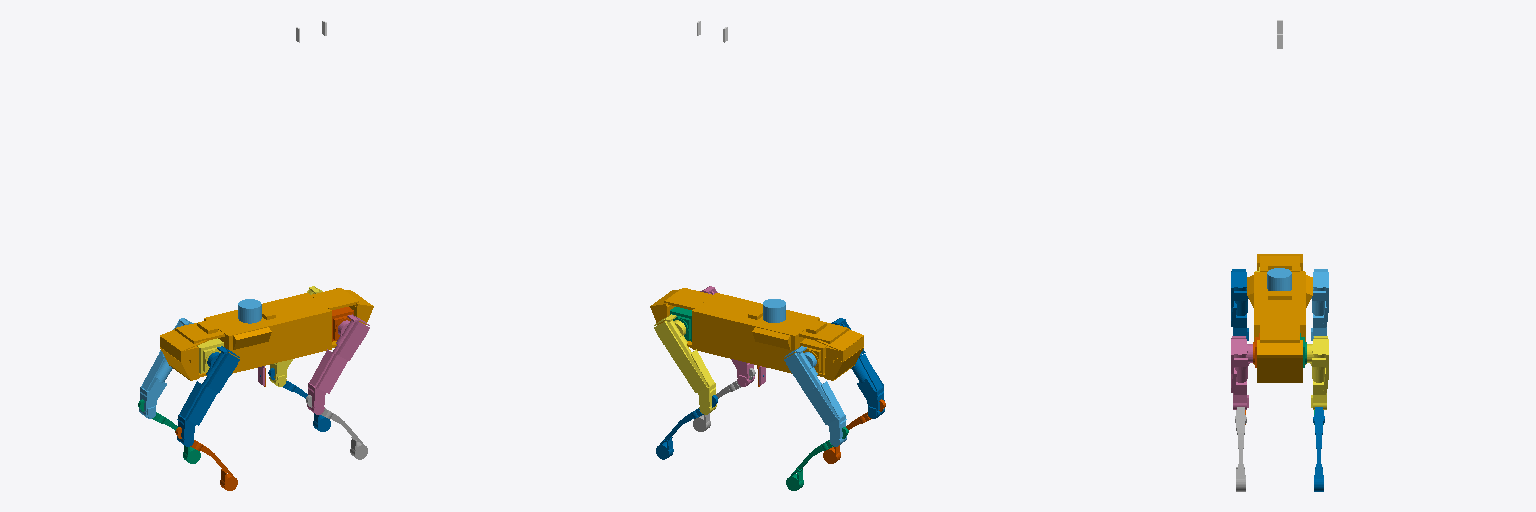
--- Facts derived from the render (not from the file) ---
Views: 3 orthographic renders of the robot side by side, from view 1: azimuth 30°, elevation 25°; view 2: azimuth 150°, elevation 25°; view 3: azimuth 270°, elevation 25°.
Model Spot with 93 links and 92 joints (21 revolute, 7 continuous, 2 prismatic, 62 fixed), rooted at base_link, posed all joints at 0.
Links seen in each view (by area): view 1: base_link, rear right upperarm, front right upperarm, rear left upperarm, front right forearm, rear right forearm, Velodyne_Puck; view 2: base_link, rear left upperarm, front left upperarm, rear right upperarm, front left forearm, rear left forearm; view 3: base_link, front right upperarm, front left upperarm, rear right upperarm, rear left upperarm, front right forearm, front left forearm, Velodyne_Puck.
Boxes of the visible links, left/top/right/bottom form: base_link: left=160, top=288, right=373, bottom=380; rear right upperarm: left=177, top=346, right=239, bottom=446; front right upperarm: left=307, top=314, right=369, bottom=414; rear left upperarm: left=139, top=318, right=193, bottom=418; front right forearm: left=306, top=395, right=367, bottom=459; rear right forearm: left=175, top=427, right=237, bottom=490; Velodyne_Puck: left=238, top=299, right=261, bottom=323; base_link: left=650, top=288, right=863, bottom=380; rear left upperarm: left=784, top=346, right=846, bottom=446; front left upperarm: left=654, top=314, right=716, bottom=414; rear right upperarm: left=831, top=318, right=884, bottom=418; front left forearm: left=656, top=395, right=717, bottom=459; rear left forearm: left=786, top=427, right=848, bottom=490; base_link: left=1247, top=254, right=1312, bottom=382; front right upperarm: left=1231, top=336, right=1252, bottom=409; front left upperarm: left=1307, top=336, right=1328, bottom=409; rear right upperarm: left=1231, top=269, right=1248, bottom=340; rear left upperarm: left=1311, top=269, right=1328, bottom=340; front right forearm: left=1235, top=407, right=1246, bottom=491; front left forearm: left=1313, top=407, right=1324, bottom=491; Velodyne_Puck: left=1267, top=268, right=1291, bottom=290.
Size in the robot's own frame: 1.06 by 0.42 by 2.1 metres.
0 mesh visuals loaded from 12 distinct referenced files (none loaded); not drawn: 9 (reference not matched to a file when rendering), 7 (file found but could not be loaded).

URDF robot description (Spot):
<?xml version="1.0"?>
<robot name="Spot" xmlns:xacro="http://ros.org/wiki/xacro">
  <link name="base_link">
    <visual>
      <origin xyz="0.462094 0 -0.000232" rpy="1.127615 -0.00001 -1.570793"/>
      <geometry>
        <box size="0.192453 0.177358 0.043396"/>
      </geometry>
    </visual>
    <collision>
      <origin xyz="0.462094 0 -0.000232" rpy="1.127615 -0.00001 -1.570793"/>
      <geometry>
        <box size="0.192453 0.177358 0.043396"/>
      </geometry>
    </collision>
    <visual>
      <origin xyz="0.477932 0 0.084013" rpy="1.217205 -0.000011 -1.570792"/>
      <geometry>
        <box size="0.192453 0.018113 0.08717"/>
      </geometry>
    </visual>
    <collision>
      <origin xyz="0.477932 0 0.084013" rpy="1.217205 -0.000011 -1.570792"/>
      <geometry>
        <box size="0.192453 0.018113 0.08717"/>
      </geometry>
    </collision>
    <visual>
      <origin xyz="0.451833 0 0.041304" rpy="0 0 0"/>
      <geometry>
        <box size="0.037736 0.192453 0.102642"/>
      </geometry>
    </visual>
    <collision>
      <origin xyz="0.451833 0 0.041304" rpy="0 0 0"/>
      <geometry>
        <box size="0.037736 0.192453 0.102642"/>
      </geometry>
    </collision>
    <visual>
      <origin xyz="0.031113 0 0.018833" rpy="0 0 0"/>
      <geometry>
        <box size="0.535849 0.222642 0.189434"/>
      </geometry>
    </visual>
    <collision>
      <origin xyz="0.031113 0 0.018833" rpy="0 0 0"/>
      <geometry>
        <box size="0.535849 0.222642 0.189434"/>
      </geometry>
    </collision>
    <visual>
      <origin xyz="0.376019 0 0.107135" rpy="0 0 0"/>
      <geometry>
        <box size="0.158491 0.166038 0.013208"/>
      </geometry>
    </visual>
    <collision>
      <origin xyz="0.376019 0 0.107135" rpy="0 0 0"/>
      <geometry>
        <box size="0.158491 0.166038 0.013208"/>
      </geometry>
    </collision>
    <visual>
      <origin xyz="0.363578 0 -0.079657" rpy="1.537614 -0.00001 -1.570793"/>
      <geometry>
        <box size="0.166038 0.013208 0.124528"/>
      </geometry>
    </visual>
    <collision>
      <origin xyz="0.363578 0 -0.079657" rpy="1.537614 -0.00001 -1.570793"/>
      <geometry>
        <box size="0.166038 0.013208 0.124528"/>
      </geometry>
    </collision>
    <visual>
      <origin xyz="-0.319453 0 0.107135" rpy="0 0 0"/>
      <geometry>
        <box size="0.158491 0.166038 0.013208"/>
      </geometry>
    </visual>
    <collision>
      <origin xyz="-0.319453 0 0.107135" rpy="0 0 0"/>
      <geometry>
        <box size="0.158491 0.166038 0.013208"/>
      </geometry>
    </collision>
    <visual>
      <origin xyz="-0.313025 0 -0.064563" rpy="0 0 0"/>
      <geometry>
        <box size="0.14717 0.166038 0.013208"/>
      </geometry>
    </visual>
    <collision>
      <origin xyz="-0.313025 0 -0.064563" rpy="0 0 0"/>
      <geometry>
        <box size="0.14717 0.166038 0.013208"/>
      </geometry>
    </collision>
    <visual>
      <origin xyz="-0.120195 0.111629 0.074886" rpy="1.5708 -0.423195 -1.570794"/>
      <geometry>
        <box size="0.030189 0.064528 0.182264"/>
      </geometry>
    </visual>
    <collision>
      <origin xyz="-0.120195 0.111629 0.074886" rpy="1.5708 -0.423195 -1.570794"/>
      <geometry>
        <box size="0.030189 0.064528 0.182264"/>
      </geometry>
    </collision>
    <visual>
      <origin xyz="-0.120195 -0.111629 0.074886" rpy="1.5708 0.423174 -1.570793"/>
      <geometry>
        <box size="0.030189 0.064528 0.182264"/>
      </geometry>
    </visual>
    <collision>
      <origin xyz="-0.120195 -0.111629 0.074886" rpy="1.5708 0.423174 -1.570793"/>
      <geometry>
        <box size="0.030189 0.064528 0.182264"/>
      </geometry>
    </collision>
    <visual>
      <origin xyz="-0.427377 0 0.059588" rpy="0 0 0"/>
      <geometry>
        <box size="0.089057 0.192453 0.05283"/>
      </geometry>
    </visual>
    <collision>
      <origin xyz="-0.427377 0 0.059588" rpy="0 0 0"/>
      <geometry>
        <box size="0.089057 0.192453 0.05283"/>
      </geometry>
    </collision>
    <visual>
      <origin xyz="-0.404 0 0.096611" rpy="1.730798 -0.000011 -1.570794"/>
      <geometry>
        <box size="0.193585 0.003774 0.135849"/>
      </geometry>
    </visual>
    <collision>
      <origin xyz="-0.404 0 0.096611" rpy="1.730798 -0.000011 -1.570794"/>
      <geometry>
        <box size="0.193585 0.003774 0.135849"/>
      </geometry>
    </collision>
    <visual>
      <origin xyz="-0.400585 0 -0.018903" rpy="0 0 0"/>
      <geometry>
        <box size="0.04566 0.191698 0.103396"/>
      </geometry>
    </visual>
    <collision>
      <origin xyz="-0.400585 0 -0.018903" rpy="0 0 0"/>
      <geometry>
        <box size="0.04566 0.191698 0.103396"/>
      </geometry>
    </collision>
    <visual>
      <origin xyz="-0.431528 0 -0.008337" rpy="2.0308 -0.00001 -1.570793"/>
      <geometry>
        <box size="0.193585 0.109434 0.037736"/>
      </geometry>
    </visual>
    <collision>
      <origin xyz="-0.431528 0 -0.008337" rpy="2.0308 -0.00001 -1.570793"/>
      <geometry>
        <box size="0.193585 0.109434 0.037736"/>
      </geometry>
    </collision>
    <visual>
      <origin xyz="-0.28 0 0.121" rpy="0 0 0"/>
      <geometry>
        <box size="0.05 0.1 0.02"/>
      </geometry>
    </visual>
    <collision>
      <origin xyz="-0.28 0 0.121" rpy="0 0 0"/>
      <geometry>
        <box size="0.05 0.1 0.02"/>
      </geometry>
    </collision>
    <visual>
      <origin xyz="0.02 0 0.121" rpy="0 0 0"/>
      <geometry>
        <box size="0.05 0.1 0.02"/>
      </geometry>
    </visual>
    <collision>
      <origin xyz="0.02 0 0.121" rpy="0 0 0"/>
      <geometry>
        <box size="0.05 0.1 0.02"/>
      </geometry>
    </collision>
  </link>
  <link name="Velodyne_Puck">
    <visual>
      <origin xyz="0 -0.00165 0" rpy="0 0 0"/>
      <geometry>
        <cylinder radius="0.052" length="0.0727"/>
      </geometry>
    </visual>
    <collision>
      <origin xyz="0 -0.00165 0" rpy="0 0 0"/>
      <geometry>
        <cylinder radius="0.052" length="0.0727"/>
      </geometry>
    </collision>
  </link>
  <joint name="base_link_Velodyne_Puck_joint" type="fixed">
    <parent link="base_link"/>
    <child link="Velodyne_Puck"/>
    <origin xyz="-0.063 0 0.1518" rpy="-0.000008 -0.000008 0.000001"/>
  </joint>
  <link name="solid">
  </link>
  <joint name="base_link_solid_joint" type="fixed">
    <parent link="base_link"/>
    <child link="solid"/>
    <origin xyz="0.496831 0.000001 0.104801" rpy="1.2208 -0.00001 -1.570793"/>
  </joint>
  <link name="kinect range">
  </link>
  <joint name="solid_kinect range_joint" type="fixed">
    <parent link="solid"/>
    <child link="kinect range"/>
    <origin xyz="0 0 -0.0127" rpy="-0.785397 1.570792 0.785397"/>
  </joint>
  <link name="kinect color">
  </link>
  <joint name="solid_kinect color_joint" type="fixed">
    <parent link="solid"/>
    <child link="kinect color"/>
    <origin xyz="0 0 -0.0127" rpy="-2.356193 1.570792 -0.7854"/>
  </joint>
  <link name="gen3_base_link">
    <inertial>
      <origin xyz="-0.000648 -0.000166 0.084487" rpy="0 0 0" />
      <mass value="1.697" />
      <inertia ixx="0.004622" ixy="9E-06" ixz="6E-05" iyy="0.004495" iyz="9E-06" izz="0.002079" />
    </inertial>
    <visual>
      <origin xyz="0 0 0" rpy="0 0 0" />
      <geometry>
        <mesh filename="package://kortex_description/arms/gen3/6dof/meshes/base_link.STL" />
      </geometry>
      <material name="">
        <color rgba="0.75294 0.75294 0.75294 1" />
      </material>
    </visual>
    <collision>
      <origin xyz="0 0 0" rpy="0 0 0" />
      <geometry>
        <mesh filename="package://kortex_description/arms/gen3/6dof/meshes/base_link.STL" />
      </geometry>
    </collision>
  </link>
  <link name="shoulder_link">
    <inertial>
      <origin xyz="-2.3E-05 -0.010364 -0.07336" rpy="0 0 0" />
      <mass value="1.377" />
      <inertia ixx="0.00457" ixy="1E-06" ixz="2E-06" iyy="0.004831" iyz="0.000448" izz="0.001409" />
    </inertial>
    <visual>
      <origin xyz="0 0 0" rpy="0 0 0" />
      <geometry>
        <mesh filename="package://kortex_description/arms/gen3/6dof/meshes/shoulder_link.STL" />
      </geometry>
      <material name="">
        <color rgba="0.75294 0.75294 0.75294 1" />
      </material>
    </visual>
    <collision>
      <origin xyz="0 0 0" rpy="0 0 0" />
      <geometry>
        <mesh filename="package://kortex_description/arms/gen3/6dof/meshes/shoulder_link.STL" />
      </geometry>
    </collision>
  </link>
  <joint name="joint_1" type="continuous">
    <origin xyz="0 0 0.15643" rpy="-3.1416 0.0 0.0" />
    <parent link="gen3_base_link" />
    <child link="shoulder_link" />
    <axis xyz="0 0 1" />
    <limit effort="39" velocity="1.3963" />
  </joint>
  <link name="bicep_link">
    <inertial>
      <origin xyz="3.5E-05 -0.208207 -0.01889" rpy="0 0 0" />
      <mass value="1.262" />
      <inertia ixx="0.046752" ixy="-9E-06" ixz="0" iyy="0.00085" iyz="-9.8E-05" izz="0.047188" />
    </inertial>
    <visual>
      <origin xyz="0 0 0" rpy="0 0 0" />
      <geometry>
        <mesh filename="package://kortex_description/arms/gen3/6dof/meshes/bicep_link.STL" />
      </geometry>
      <material name="">
        <color rgba="0.75294 0.75294 0.75294 1" />
      </material>
    </visual>
    <collision>
      <origin xyz="0 0 0" rpy="0 0 0" />
      <geometry>
        <mesh filename="package://kortex_description/arms/gen3/6dof/meshes/bicep_link.STL" />
      </geometry>
    </collision>
  </link>
  <joint name="joint_2" type="revolute">
    <origin xyz="0 0.005375 -0.12838" rpy="1.5708 0.0 0.0" />
    <parent link="shoulder_link" />
    <child link="bicep_link" />
    <axis xyz="0 0 1" />
    <limit lower="-2.24" upper="2.24" effort="39" velocity="1.3963" />
  </joint>
  <link name="forearm_link">
    <inertial>
      <origin xyz="1.8E-05 0.076168 -0.01397" rpy="0 0 0" />
      <mass value="0.93" />
      <inertia ixx="0.008292" ixy="-1E-06" ixz="0" iyy="0.000628" iyz="0.000432" izz="0.008464" />
    </inertial>
    <visual>
      <origin xyz="0 0 0" rpy="0 0 0" />
      <geometry>
        <mesh filename="package://kortex_description/arms/gen3/6dof/meshes/forearm_link.STL" />
      </geometry>
      <material name="">
        <color rgba="0.75294 0.75294 0.75294 1" />
      </material>
    </visual>
    <collision>
      <origin xyz="0 0 0" rpy="0 0 0" />
      <geometry>
        <mesh filename="package://kortex_description/arms/gen3/6dof/meshes/forearm_link.STL" />
      </geometry>
    </collision>
  </link>
  <joint name="joint_3" type="revolute">
    <origin xyz="0 -0.41 0" rpy="3.1416 0 0" />
    <parent link="bicep_link" />
    <child link="forearm_link" />
    <axis xyz="0 0 1" />
    <limit lower="-2.57" upper="2.57" effort="39" velocity="1.3963" />
  </joint>
  <link name="spherical_wrist_1_link">
    <inertial>
      <origin xyz="-1E-06 0.008486 -0.062937" rpy="0 0 0" />
      <mass value="0.6781" />
      <inertia ixx="0.001645" ixy="0" ixz="0" iyy="0.001666" iyz="-0.000234" izz="0.000389" />
    </inertial>
    <visual>
      <origin xyz="0 0 0" rpy="0 0 0" />
      <geometry>
        <mesh filename="package://kortex_description/arms/gen3/6dof/meshes/spherical_wrist_1_link.STL" />
      </geometry>
      <material name="">
        <color rgba="0.75294 0.75294 0.75294 1" />
      </material>
    </visual>
    <collision>
      <origin xyz="0 0 0" rpy="0 0 0" />
      <geometry>
        <mesh filename="package://kortex_description/arms/gen3/6dof/meshes/spherical_wrist_1_link.STL" />
      </geometry>
    </collision>
  </link>
  <joint name="joint_4" type="continuous">
    <origin xyz="0 0.20843 -0.006375" rpy="1.5708 0.0 0.0" />
    <parent link="forearm_link" />
    <child link="spherical_wrist_1_link" />
    <axis xyz="0 0 1" />
    <limit effort="9" velocity="1.2218" />
  </joint>
  <link name="spherical_wrist_2_link">
    <inertial>
      <origin xyz="-1E-06 0.046429 -0.008704" rpy="0 0 0" />
      <mass value="0.678" />
      <inertia ixx="0.001685" ixy="0" ixz="0" iyy="0.0004" iyz="0.000255" izz="0.001696" />
    </inertial>
    <visual>
      <origin xyz="0 0 0" rpy="0 0 0" />
      <geometry>
        <mesh filename="package://kortex_description/arms/gen3/6dof/meshes/spherical_wrist_2_link.STL" />
      </geometry>
      <material name="">
        <color rgba="0.75294 0.75294 0.75294 1" />
      </material>
    </visual>
    <collision>
      <origin xyz="0 0 0" rpy="0 0 0" />
      <geometry>
        <mesh filename="package://kortex_description/arms/gen3/6dof/meshes/spherical_wrist_2_link.STL" />
      </geometry>
    </collision>
  </link>
  <joint name="joint_5" type="revolute">
    <origin xyz="0 -0.00017505 -0.10593" rpy="-1.5708 0.0 0.0" />
    <parent link="spherical_wrist_1_link" />
    <child link="spherical_wrist_2_link" />
    <axis xyz="0 0 1" />
    <limit lower="-2.09" upper="2.09" effort="9" velocity="1.2218" />
  </joint>
  <link name="bracelet_link">
    <inertial>
      <origin xyz="0.000281 0.011402 -0.029798" rpy="0 0 0" />
      <mass value="0.5" />
      <inertia ixx="0.000587" ixy="3E-06" ixz="3E-06" iyy="0.000369" iyz="-0.000118" izz="0.000609" />
    </inertial>
    <visual>
      <origin xyz="0 0 0" rpy="0 0 0" />
      <geometry>
        <mesh filename="package://kortex_description/arms/gen3/6dof/meshes/bracelet_with_vision_link.STL" />
      </geometry>
      <material name="">
        <color rgba="0.75294 0.75294 0.75294 1" />
      </material>
    </visual>
    <collision>
      <origin xyz="0 0 0" rpy="0 0 0" />
      <geometry>
        <mesh filename="package://kortex_description/arms/gen3/6dof/meshes/bracelet_with_vision_link.STL" />
      </geometry>
    </collision>
  </link>
  <joint name="joint_6" type="continuous">
    <origin xyz="0 0.10593 -0.00017505" rpy="1.5708 0.0 0.0" />
    <parent link="spherical_wrist_2_link" />
    <child link="bracelet_link" />
    <axis xyz="0 0 1" />
    <limit effort="9" velocity="1.2218" />
  </joint>
  <link name="end_effector_link">
    <inertial>
      <origin xyz="0 0 0" rpy="0 0 0" />
      <mass value="0" />
      <inertia ixx="0" ixy="0" ixz="0" iyy="0" iyz="0" izz="0" />
    </inertial>
  </link>
  <joint name="end_effector" type="fixed">
    <origin xyz="0 0 -0.061525" rpy="3.1416 0 -3.1416" />
    <parent link="bracelet_link" />
    <child link="end_effector_link" />
    <axis xyz="0 0 0" />
  </joint>
  <link name="camera_link" />
  <joint name="camera_module" type="fixed">
    <origin xyz="0 0.05639 -0.00305" rpy="3.14159265358979 3.14159265358979 0" />
    <parent link="end_effector_link" />
    <child link="camera_link" />
  </joint>
  <link name="camera_depth_frame" />
  <joint name="depth_module" type="fixed">
    <origin xyz="0.0275 0.066 -0.00305" rpy="3.14159265358979 3.14159265358979 0" />
    <parent link="end_effector_link" />
    <child link="camera_depth_frame" />
  </joint>
  <link name="camera_color_frame" />
  <joint name="color_module" type="fixed">
    <origin xyz="0 0.05639 -0.00305" rpy="3.14159265358979 3.14159265358979 0" />
    <parent link="end_effector_link" />
    <child link="camera_color_frame" />
  </joint>

  <!-- Connecting Joint: Attach Gripper to Arm -->
  <joint name="arm_to_gripper_joint" type="fixed">
    <origin xyz="0 0 -0.01" rpy="0 0 1.5708" />
    <parent link="end_effector_link" />
    <child link="robotiq_2f_base_link" />
  </joint>

  <!-- Robotiq 2F-140 Gripper -->
  <link name="robotiq_2f_base_link">
    <inertial>
      <origin rpy="0 0 0" xyz="8.625E-08 -4.6583E-06 0.03145"/>
      <mass value="0.22652"/>
      <inertia ixx="0.00020005" ixy="-4.2442E-10" ixz="-2.9069E-10" iyy="0.00017832" iyz="-3.4402E-08" izz="0.00013478"/>
    </inertial>
    <visual>
      <origin rpy="0 0 0" xyz="0 0 0"/>
      <geometry>
        <mesh filename="package://robotiq_description/meshes/visual/2f_140/robotiq_2f_140_base_link.stl"/>
      </geometry>
      <material name="">
        <color rgba="0.1 0.1 0.1 1"/>
      </material>
    </visual>
    <collision>
      <origin rpy="0 0 0" xyz="0 0 0"/>
      <geometry>
        <mesh filename="package://robotiq_description/meshes/collision/2f_140/robotiq_2f_140_base_link.stl"/>
      </geometry>
    </collision>
  </link>
  <link name="left_outer_knuckle">
    <inertial>
      <origin rpy="0 0 0" xyz="-0.000200000000003065 0.0199435877845359 0.0292245259211331"/>
      <mass value="0.00853198276973456"/>
      <inertia ixx="2.89328108496468E-06" ixy="-1.57935047237397E-19" ixz="-1.93980378593255E-19" iyy="1.86719750325683E-06" iyz="-1.21858577871576E-06" izz="1.21905238907251E-06"/>
    </inertial>
    <visual>
      <origin rpy="0 0 0" xyz="0 0 0"/>
      <geometry>
        <mesh filename="package://robotiq_description/meshes/visual/2f_140/robotiq_2f_140_outer_knuckle.stl"/>
      </geometry>
      <material name="">
        <color rgba="0.792156862745098 0.819607843137255 0.933333333333333 1"/>
      </material>
    </visual>
    <collision>
      <origin rpy="0 0 0" xyz="0 0 0"/>
      <geometry>
        <mesh filename="package://robotiq_description/meshes/collision/2f_140/robotiq_2f_140_outer_knuckle.stl"/>
      </geometry>
    </collision>
  </link>
  <link name="left_outer_finger">
    <inertial>
      <origin rpy="0 0 0" xyz="0.00030115855001899 0.0373907951953854 -0.0208027427000385"/>
      <mass value="0.022614240507152"/>
      <inertia ixx="1.52518312458174E-05" ixy="9.76583423954399E-10" ixz="-5.43838577022588E-10" iyy="6.17694243867776E-06" iyz="6.78636130740228E-06" izz="1.16494917907219E-05"/>
    </inertial>
    <visual>
      <origin rpy="0 0 0" xyz="0 0 0"/>
      <geometry>
        <mesh filename="package://robotiq_description/meshes/visual/2f_140/robotiq_2f_140_outer_finger.stl"/>
      </geometry>
      <material name="">
        <color rgba="0.1 0.1 0.1 1"/>
      </material>
    </visual>
    <collision>
      <origin rpy="0 0 0" xyz="0 0 0"/>
      <geometry>
        <mesh filename="package://robotiq_description/meshes/collision/2f_140/robotiq_2f_140_outer_finger.stl"/>
      </geometry>
    </collision>
  </link>
  <link name="left_inner_finger">
    <inertial>
      <origin rpy="0 0 0" xyz="0.000299999999999317 0.0160078233491243 -0.0136945669206257"/>
      <mass value="0.0104003125914103"/>
      <inertia ixx="2.71909453810972E-06" ixy="1.35402465472579E-21" ixz="-7.1817349065269E-22" iyy="7.69100314106116E-07" iyz="6.74715432769696E-07" izz="2.30315190420171E-06"/>
    </inertial>
    <visual>
      <origin rpy="0 0 0" xyz="0 0 0"/>
      <geometry>
        <mesh filename="package://robotiq_description/meshes/visual/2f_140/robotiq_2f_140_inner_finger.stl"/>
      </geometry>
      <material name="">
        <color rgba="0.1 0.1 0.1 1"/>
      </material>
    </visual>
    <collision>
      <origin rpy="0 0 0" xyz="0 0 0"/>
      <geometry>
        <mesh filename="package://robotiq_description/meshes/collision/2f_140/robotiq_2f_140_inner_finger.stl"/>
      </geometry>
    </collision>
  </link>
  <link name="left_inner_finger_pad">
    <visual>
      <origin rpy="0 0 0" xyz="0 0 0"/>
      <geometry>
        <box size="0.027 0.065 0.0075"/>
      </geometry>
      <material name="">
        <color rgba="0.9 0.9 0.9 1"/>
      </material>
    </visual>
    <collision>
      <origin rpy="0 0 0" xyz="0 0 0"/>
      <geometry>
        <box size="0.03 0.07 0.0075"/>
      </geometry>
      <material name="">
        <color rgba="0.9 0.0 0.0 1"/>
      </material>
    </collision>
  </link>
  <link name="left_inner_knuckle">
    <inertial>
      <origin rpy="0 0 0" xyz="0.000123011831763771 0.0507850843201817 0.00103968640075166"/>
      <mass value="0.0271177346495152"/>
      <inertia ixx="2.61910379223783E-05" ixy="-2.43616858946494E-07" ixz="-6.37789906117123E-09" iyy="2.8270243746167E-06" iyz="-5.37200748039765E-07" izz="2.83695868220296E-05"/>
    </inertial>
    <visual>
      <origin rpy="0 0 0" xyz="0 0 0"/>
      <geometry>
        <mesh filename="package://robotiq_description/meshes/visual/2f_140/robotiq_2f_140_inner_knuckle.stl"/>
      </geometry>
      <material name="">
        <color rgba="0.1 0.1 0.1 1"/>
      </material>
    </visual>
    <collision>
      <origin rpy="0 0 0" xyz="0 0 0"/>
      <geometry>
        <mesh filename="package://robotiq_description/meshes/collision/2f_140/robotiq_2f_140_inner_knuckle.stl"/>
      </geometry>
    </collision>
  </link>
  <link name="right_outer_knuckle">
    <inertial>
      <origin rpy="0 0 0" xyz="-0.000200000000003065 0.0199435877845359 0.0292245259211331"/>
      <mass value="0.00853198276973456"/>
      <inertia ixx="2.89328108496468E-06" ixy="-1.57935047237397E-19" ixz="-1.93980378593255E-19" iyy="1.86719750325683E-06" iyz="-1.21858577871576E-06" izz="1.21905238907251E-06"/>
    </inertial>
    <visual>
      <origin rpy="0 0 0" xyz="0 0 0"/>
      <geometry>
        <mesh filename="package://robotiq_description/meshes/visual/2f_140/robotiq_2f_140_outer_knuckle.stl"/>
      </geometry>
      <material name="">
        <color rgba="0.792156862745098 0.819607843137255 0.933333333333333 1"/>
      </material>
    </visual>
    <collision>
      <origin rpy="0 0 0" xyz="0 0 0"/>
      <geometry>
        <mesh filename="package://robotiq_description/meshes/collision/2f_140/robotiq_2f_140_outer_knuckle.stl"/>
      </geometry>
    </collision>
  </link>
  <link name="right_outer_finger">
    <inertial>
      <origin rpy="0 0 0" xyz="0.00030115855001899 0.0373907951953854 -0.0208027427000385"/>
      <mass value="0.022614240507152"/>
      <inertia ixx="1.52518312458174E-05" ixy="9.76583423954399E-10" ixz="-5.43838577022588E-10" iyy="6.17694243867776E-06" iyz="6.78636130740228E-06" izz="1.16494917907219E-05"/>
    </inertial>
    <visual>
      <origin rpy="0 0 0" xyz="0 0 0"/>
      <geometry>
        <mesh filename="package://robotiq_description/meshes/visual/2f_140/robotiq_2f_140_outer_finger.stl"/>
      </geometry>
      <material name="">
        <color rgba="0.1 0.1 0.1 1"/>
      </material>
    </visual>
    <collision>
      <origin rpy="0 0 0" xyz="0 0 0"/>
      <geometry>
        <mesh filename="package://robotiq_description/meshes/collision/2f_140/robotiq_2f_140_outer_finger.stl"/>
      </geometry>
    </collision>
  </link>
  <link name="right_inner_finger">
    <inertial>
      <origin rpy="0 0 0" xyz="0.000299999999999317 0.0160078233491243 -0.0136945669206257"/>
      <mass value="0.0104003125914103"/>
      <inertia ixx="2.71909453810972E-06" ixy="1.35402465472579E-21" ixz="-7.1817349065269E-22" iyy="7.69100314106116E-07" iyz="6.74715432769696E-07" izz="2.30315190420171E-06"/>
    </inertial>
    <visual>
      <origin rpy="0 0 0" xyz="0 0 0"/>
      <geometry>
        <mesh filename="package://robotiq_description/meshes/visual/2f_140/robotiq_2f_140_inner_finger.stl"/>
      </geometry>
      <material name="">
        <color rgba="0.1 0.1 0.1 1"/>
      </material>
    </visual>
    <collision>
      <origin rpy="0 0 0" xyz="0 0 0"/>
      <geometry>
        <mesh filename="package://robotiq_description/meshes/collision/2f_140/robotiq_2f_140_inner_finger.stl"/>
      </geometry>
    </collision>
  </link>
  <link name="right_inner_finger_pad">
    <visual>
      <origin rpy="0 0 0" xyz="0 0 0"/>
      <geometry>
        <box size="0.027 0.065 0.0075"/>
      </geometry>
      <material name="">
        <color rgba="0.9 0.9 0.9 1"/>
      </material>
    </visual>
    <collision>
      <origin rpy="0 0 0" xyz="0 0 0"/>
      <geometry>
        <box size="0.03 0.07 0.0075"/>
      </geometry>
      <material name="">
        <color rgba="0.9 0.0 0.0 1"/>
      </material>
    </collision>
  </link>
  <link name="right_inner_knuckle">
    <inertial>
      <origin rpy="0 0 0" xyz="0.000123011831763771 0.0507850843201817 0.00103968640075166"/>
      <mass value="0.0271177346495152"/>
      <inertia ixx="2.61910379223783E-05" ixy="-2.43616858946494E-07" ixz="-6.37789906117123E-09" iyy="2.8270243746167E-06" iyz="-5.37200748039765E-07" izz="2.83695868220296E-05"/>
    </inertial>
    <visual>
      <origin rpy="0 0 0" xyz="0 0 0"/>
      <geometry>
        <mesh filename="package://robotiq_description/meshes/visual/2f_140/robotiq_2f_140_inner_knuckle.stl"/>
      </geometry>
      <material name="">
        <color rgba="0.1 0.1 0.1 1"/>
      </material>
    </visual>
    <collision>
      <origin rpy="0 0 0" xyz="0 0 0"/>
      <geometry>
        <mesh filename="package://robotiq_description/meshes/collision/2f_140/robotiq_2f_140_inner_knuckle.stl"/>
      </geometry>
    </collision>
  </link>
  <joint name="finger_joint" type="revolute">
    <origin rpy="2.2957963267948966 0 0" xyz="0 -0.030601 0.054905"/>
    <parent link="robotiq_2f_base_link"/>
    <child link="left_outer_knuckle"/>
    <axis xyz="-1 0 0"/>
    <limit effort="1000" lower="0" upper="0.7" velocity="2.0"/>
  </joint>
  <joint name="left_outer_finger_joint" type="fixed">
    <origin rpy="0 0 0" xyz="0 0.01821998610742 0.0260018192872234"/>
    <parent link="left_outer_knuckle"/>
    <child link="left_outer_finger"/>
    <axis xyz="1 0 0"/>
  </joint>
  <joint name="left_inner_knuckle_joint" type="revolute">
    <origin rpy="2.2957963267948966 0 0.0" xyz="0 -0.0127 0.06142"/>
    <parent link="robotiq_2f_base_link"/>
    <child link="left_inner_knuckle"/>
    <axis xyz="1 0 0"/>
    <limit effort="1000" lower="-0.8757" upper="0.8757" velocity="2.0"/>
    <mimic joint="finger_joint" multiplier="-1" offset="0"/>
  </joint>
  <joint name="left_inner_finger_joint" type="revolute">
    <origin rpy="-0.725 0 0" xyz="0 0.0817554015893473 -0.0282203446692936"/>
    <parent link="left_outer_finger"/>
    <child link="left_inner_finger"/>
    <axis xyz="1 0 0"/>
    <limit effort="1000" lower="-0.8757" upper="0.8757" velocity="2.0"/>
    <mimic joint="finger_joint" multiplier="1" offset="0"/>
  </joint>
  <joint name="left_inner_finger_pad_joint" type="fixed">
    <origin rpy="0 0 0" xyz="0 0.0457554015893473 -0.0272203446692936"/>
    <parent link="left_inner_finger"/>
    <child link="left_inner_finger_pad"/>
    <axis xyz="0 0 1"/>
  </joint>
  <joint name="right_outer_knuckle_joint" type="revolute">
    <origin rpy="2.2957963267948966 0 3.141592653589793" xyz="0 0.030601 0.054905"/>
    <parent link="robotiq_2f_base_link"/>
    <child link="right_outer_knuckle"/>
    <axis xyz="1 0 0"/>
    <limit effort="1000" lower="-0.725" upper="0.725" velocity="2.0"/>
    <mimic joint="finger_joint" multiplier="-1" offset="0"/>
  </joint>
  <joint name="right_outer_finger_joint" type="fixed">
    <origin rpy="0 0 0" xyz="0 0.01821998610742 0.0260018192872234"/>
    <parent link="right_outer_knuckle"/>
    <child link="right_outer_finger"/>
    <axis xyz="1 0 0"/>
  </joint>
  <joint name="right_inner_knuckle_joint" type="revolute">
    <origin rpy="2.2957963267948966 0 -3.141592653589793" xyz="0 0.0127 0.06142"/>
    <parent link="robotiq_2f_base_link"/>
    <child link="right_inner_knuckle"/>
    <axis xyz="1 0 0"/>
    <limit effort="1000" lower="-0.8757" upper="0.8757" velocity="2.0"/>
    <mimic joint="finger_joint" multiplier="-1" offset="0"/>
  </joint>
  <joint name="right_inner_finger_joint" type="revolute">
    <origin rpy="-0.725 0 0" xyz="0 0.0817554015893473 -0.0282203446692936"/>
    <parent link="right_outer_finger"/>
    <child link="right_inner_finger"/>
    <axis xyz="1 0 0"/>
    <limit effort="1000" lower="-0.8757" upper="0.8757" velocity="2.0"/>
    <mimic joint="finger_joint" multiplier="1" offset="0"/>
  </joint>
  <joint name="right_inner_finger_pad_joint" type="fixed">
    <origin rpy="0 0 0" xyz="0 0.0457554015893473 -0.0272203446692936"/>
    <parent link="right_inner_finger"/>
    <child link="right_inner_finger_pad"/>
    <axis xyz="0 0 1"/>
  </joint>
  <transmission name="finger_joint_trans">
    <type>transmission_interface/SimpleTransmission</type>
    <joint name="finger_joint">
      <hardwareInterface>PositionJointInterface</hardwareInterface>
    </joint>
    <actuator name="finger_joint_motor">
      <mechanicalReduction>1</mechanicalReduction>
    </actuator>
  </transmission>
  <link name="front">
    <visual>
      <origin xyz="0 0.0005 -0.007" rpy="0 0 0"/>
      <geometry>
        <cylinder radius="0.0227" length="0.028"/>
      </geometry>
    </visual>
    <collision>
      <origin xyz="0 0.0005 -0.007" rpy="0 0 0"/>
      <geometry>
        <cylinder radius="0.0227" length="0.028"/>
      </geometry>
    </collision>
    <visual>
      <origin xyz="0.029 -0.01784 -0.053" rpy="0 0 0.59"/>
      <geometry>
        <box size="0.04 0.0217 0.105"/>
      </geometry>
    </visual>
    <collision>
      <origin xyz="0.029 -0.01784 -0.053" rpy="0 0 0.59"/>
      <geometry>
        <box size="0.04 0.0217 0.105"/>
      </geometry>
    </collision>
    <visual>
      <origin xyz="-0.029 0.01884 -0.053" rpy="0 0 0.59"/>
      <geometry>
        <box size="0.04 0.0217 0.105"/>
      </geometry>
    </visual>
    <collision>
      <origin xyz="-0.029 0.01884 -0.053" rpy="0 0 0.59"/>
      <geometry>
        <box size="0.04 0.0217 0.105"/>
      </geometry>
    </collision>
    <visual>
      <origin xyz="0.0172 0.0114 -0.053" rpy="3.141593 -1.570793 3.141593"/>
      <geometry>
        <box size="0.106 0.056 0.071"/>
      </geometry>
    </visual>
    <collision>
      <origin xyz="0.0172 0.0114 -0.053" rpy="3.141593 -1.570793 3.141593"/>
      <geometry>
        <box size="0.106 0.056 0.071"/>
      </geometry>
    </collision>
    <visual>
      <origin xyz="-0.0172 -0.0104 -0.053" rpy="3.141593 -1.570793 3.141593"/>
      <geometry>
        <box size="0.106 0.056 0.071"/>
      </geometry>
    </visual>
    <collision>
      <origin xyz="-0.0172 -0.0104 -0.053" rpy="3.141593 -1.570793 3.141593"/>
      <geometry>
        <box size="0.106 0.056 0.071"/>
      </geometry>
    </collision>
  </link>
  <!-- Add a fixed joint to connect 'front' to 'base_link' -->
  <joint name="base_link_to_front" type="fixed">
    <parent link="base_link"/>
    <child link="front"/>
    <origin xyz="0 0 0" rpy="0 0 0"/>
  </joint>
  <link name="gripper_centre">
    <visual>
      <origin xyz="0 0 0" rpy="0 0 0"/>
      <geometry>
        <sphere radius="0.01"/>
      </geometry>
    </visual>
  </link>
  <joint name="gripper_centre_joint" type="fixed">
    <parent link="front"/>
    <child link="gripper_centre"/>
    <origin xyz="0 0 -0.18" rpy="0 0 0"/>
  </joint>
  <joint name="gripper_right_finger_joint" type="prismatic">
    <parent link="front"/>
    <child link="gripper_right_finger_link"/>
    <axis xyz="1 0 0"/>
    <origin xyz="0 0.0005 -0.007" rpy="0 0 0"/>
    <limit effort="16" lower="0" upper="0.045" velocity="0.05"/>
  </joint>
  <link name="gripper_right_finger_link">
    <visual>
      <origin xyz="0.004 0 -0.1741" rpy="0 0 0"/>
      <geometry>
        <box size="0.0076 0.05091 0.08982"/>
      </geometry>
    </visual>
    <collision>
      <origin xyz="0.004 0 -0.1741" rpy="0 0 0"/>
      <geometry>
        <box size="0.0076 0.05091 0.08982"/>
      </geometry>
    </collision>
    <visual>
      <origin xyz="0.0049 0.0153 -0.1208" rpy="0 0 0"/>
      <geometry>
        <box size="0.0055 0.0295 0.018"/>
      </geometry>
    </visual>
    <collision>
      <origin xyz="0.0049 0.0153 -0.1208" rpy="0 0 0"/>
      <geometry>
        <box size="0.0055 0.0295 0.018"/>
      </geometry>
    </collision>
    <visual>
      <origin xyz="-0.0085 0.0156 -0.1048" rpy="0 0 0"/>
      <geometry>
        <box size="0.03213 0.02959 0.01487"/>
      </geometry>
    </visual>
    <collision>
      <origin xyz="-0.0085 0.0156 -0.1048" rpy="0 0 0"/>
      <geometry>
        <box size="0.03213 0.02959 0.01487"/>
      </geometry>
    </collision>
  </link>
  <joint name="gripper_left_finger_joint" type="prismatic">
    <parent link="front"/>
    <child link="gripper_left_finger_link"/>
    <axis xyz="1 0.000093 0"/>
    <origin xyz="0 0 0" rpy="0 0 3.1415"/>
    <limit effort="16" lower="0" upper="0.045" velocity="0.05"/>
  </joint>
  <link name="gripper_left_finger_link">
    <visual>
      <origin xyz="0.004 0 -0.1741" rpy="0 0 0"/>
      <geometry>
        <box size="0.0076 0.05091 0.08982"/>
      </geometry>
    </visual>
    <collision>
      <origin xyz="0.004 0 -0.1741" rpy="0 0 0"/>
      <geometry>
        <box size="0.0076 0.05091 0.08982"/>
      </geometry>
    </collision>
    <visual>
      <origin xyz="0.0049 0.0153 -0.1208" rpy="0 0 0"/>
      <geometry>
        <box size="0.0055 0.0295 0.018"/>
      </geometry>
    </visual>
    <collision>
      <origin xyz="0.0049 0.0153 -0.1208" rpy="0 0 0"/>
      <geometry>
        <box size="0.0055 0.0295 0.018"/>
      </geometry>
    </collision>
    <visual>
      <origin xyz="-0.0085 0.0156 -0.1048" rpy="0 0 0"/>
      <geometry>
        <box size="0.03213 0.02959 0.01487"/>
      </geometry>
    </visual>
    <collision>
      <origin xyz="-0.0085 0.0156 -0.1048" rpy="0 0 0"/>
      <geometry>
        <box size="0.03213 0.02959 0.01487"/>
      </geometry>
    </collision>
  </link>
  <link name="cap screw(19)">
  </link>
  <joint name="front_cap screw(19)_joint" type="fixed">
    <parent link="front"/>
    <child link="cap screw(19)"/>
    <origin xyz="0.0415 -0.0029 -0.0004" rpy="3.14159 0 0"/>
  </joint>
  <link name="cap screw(18)">
  </link>
  <joint name="front_cap screw(18)_joint" type="fixed">
    <parent link="front"/>
    <child link="cap screw(18)"/>
    <origin xyz="-0.0415 0.0029 -0.0004" rpy="3.14159 0 0"/>
  </joint>
  <link name="cap screw(17)">
  </link>
  <joint name="front_cap screw(17)_joint" type="fixed">
    <parent link="front"/>
    <child link="cap screw(17)"/>
    <origin xyz="0.0433 0.0315 0.0026" rpy="3.14159 0 0"/>
  </joint>
  <link name="cap screw(16)">
  </link>
  <joint name="front_cap screw(16)_joint" type="fixed">
    <parent link="front"/>
    <child link="cap screw(16)"/>
    <origin xyz="-0.0433 -0.0315 0.0026" rpy="3.14159 0 0"/>
  </joint>
  <link name="cap screw(15)">
  </link>
  <joint name="front_cap screw(15)_joint" type="fixed">
    <parent link="front"/>
    <child link="cap screw(15)"/>
    <origin xyz="0 0.033 0.0026" rpy="3.14159 0 0"/>
  </joint>
  <link name="cap screw(14)">
  </link>
  <joint name="front_cap screw(14)_joint" type="fixed">
    <parent link="front"/>
    <child link="cap screw(14)"/>
    <origin xyz="0 -0.033 0.0026" rpy="3.14159 0 0"/>
  </joint>
  <link name="cap screw(13)">
  </link>
  <joint name="front_cap screw(13)_joint" type="fixed">
    <parent link="front"/>
    <child link="cap screw(13)"/>
    <origin xyz="0.0426 -0.0094 -0.09448" rpy="0 0 0"/>
  </joint>
  <link name="cap screw(12)">
  </link>
  <joint name="front_cap screw(12)_joint" type="fixed">
    <parent link="front"/>
    <child link="cap screw(12)"/>
    <origin xyz="-0.0425 0.0094 -0.0945" rpy="0 0 0"/>
  </joint>
  <link name="cap screw(11)">
  </link>
  <joint name="front_cap screw(11)_joint" type="fixed">
    <parent link="front"/>
    <child link="cap screw(11)"/>
    <origin xyz="-0.0477 -0.008 -0.0108" rpy="3.141593 1.570793 3.141593"/>
  </joint>
  <link name="cap screw(10)">
  </link>
  <joint name="front_cap screw(10)_joint" type="fixed">
    <parent link="front"/>
    <child link="cap screw(10)"/>
    <origin xyz="-0.0477 -0.008 -0.043" rpy="3.141593 1.570793 3.141593"/>
  </joint>
  <link name="cap screw(9)">
  </link>
  <joint name="front_cap screw(9)_joint" type="fixed">
    <parent link="front"/>
    <child link="cap screw(9)"/>
    <origin xyz="-0.0477 -0.008 -0.075" rpy="3.141593 1.570793 3.141593"/>
  </joint>
  <link name="cap screw(8)">
  </link>
  <joint name="front_cap screw(8)_joint" type="fixed">
    <parent link="front"/>
    <child link="cap screw(8)"/>
    <origin xyz="-0.0477 0.008 -0.075" rpy="3.141593 1.570793 3.141593"/>
  </joint>
  <link name="cap screw(7)">
  </link>
  <joint name="front_cap screw(7)_joint" type="fixed">
    <parent link="front"/>
    <child link="cap screw(7)"/>
    <origin xyz="-0.0477 0.008 -0.043" rpy="3.141593 1.570793 3.141593"/>
  </joint>
  <link name="cap screw(6)">
  </link>
  <joint name="front_cap screw(6)_joint" type="fixed">
    <parent link="front"/>
    <child link="cap screw(6)"/>
    <origin xyz="-0.0477 0.008 -0.0108" rpy="3.141593 1.570793 3.141593"/>
  </joint>
  <link name="cap screw(5)">
  </link>
  <joint name="front_cap screw(5)_joint" type="fixed">
    <parent link="front"/>
    <child link="cap screw(5)"/>
    <origin xyz="0.0477 -0.008 -0.0108" rpy="3.141593 -1.570793 3.141593"/>
  </joint>
  <link name="cap screw(4)">
  </link>
  <joint name="front_cap screw(4)_joint" type="fixed">
    <parent link="front"/>
    <child link="cap screw(4)"/>
    <origin xyz="0.0477 -0.008 -0.043" rpy="3.141593 -1.570793 3.141593"/>
  </joint>
  <link name="cap screw(3)">
  </link>
  <joint name="front_cap screw(3)_joint" type="fixed">
    <parent link="front"/>
    <child link="cap screw(3)"/>
    <origin xyz="0.0477 -0.008 -0.075" rpy="3.141593 -1.570793 3.141593"/>
  </joint>
  <link name="cap screw(2)">
  </link>
  <joint name="front_cap screw(2)_joint" type="fixed">
    <parent link="front"/>
    <child link="cap screw(2)"/>
    <origin xyz="0.0477 0.008 -0.075" rpy="3.141593 -1.570793 3.141593"/>
  </joint>
  <link name="cap screw(1)">
  </link>
  <joint name="front_cap screw(1)_joint" type="fixed">
    <parent link="front"/>
    <child link="cap screw(1)"/>
    <origin xyz="0.0477 0.008 -0.043" rpy="3.141593 -1.570793 3.141593"/>
  </joint>
  <link name="cap screw">
  </link>
  <joint name="front_cap screw_joint" type="fixed">
    <parent link="front"/>
    <child link="cap screw"/>
    <origin xyz="0.0477 0.008 -0.0108" rpy="3.141593 -1.570793 3.141593"/>
  </joint>
  <joint name="rear right shoulder abduction motor" type="revolute">
    <parent link="base_link"/>
    <child link="rear right shoulder"/>
    <axis xyz="0 0 1"/>
    <limit effort="50" lower="-0.6" upper="0.5" velocity="10"/>
    <origin xyz="-0.3084 -0.0528 0.012301" rpy="1.5708 -0.00001 -1.570793"/>
  </joint>
  <link name="rear right shoulder">
    <visual>
      <origin xyz="-0.004874 0.000873 -0.000643" rpy="0 0 0"/>
      <geometry>
        <box size="0.086792 0.124528 0.120755"/>
      </geometry>
    </visual>
    <collision>
      <origin xyz="-0.004874 0.000873 -0.000643" rpy="0 0 0"/>
      <geometry>
        <box size="0.086792 0.124528 0.120755"/>
      </geometry>
    </collision>
    <visual>
      <origin xyz="0.006447 0.000873 -0.000643" rpy="0 0 0"/>
      <geometry>
        <box size="0.098113 0.098113 0.098113"/>
      </geometry>
    </visual>
    <collision>
      <origin xyz="0.006447 0.000873 -0.000643" rpy="0 0 0"/>
      <geometry>
        <box size="0.098113 0.098113 0.098113"/>
      </geometry>
    </collision>
    <visual>
      <origin xyz="0.058145 0.000873 -0.000643" rpy="-1.5708 0 1.5708"/>
      <geometry>
        <cylinder radius="0.047925" length="0.006038"/>
      </geometry>
    </visual>
    <collision>
      <origin xyz="0.058145 0.000873 -0.000643" rpy="-1.5708 0 1.5708"/>
      <geometry>
        <cylinder radius="0.047925" length="0.006038"/>
      </geometry>
    </collision>
  </link>
  <joint name="rear right shoulder rotation motor" type="revolute">
    <parent link="rear right shoulder"/>
    <child link="rear right upperarm"/>
    <axis xyz="1 0 0"/>
    <limit effort="50" lower="-1.7" upper="1.7" velocity="10"/>
    <origin xyz="0 -0.00053 0" rpy="0 0 0"/>
  </joint>
  <link name="rear right upperarm">
    <visual>
      <origin xyz="0.117011 -0.32073 0.1829" rpy="-1.5708 0 1.5708"/>
      <geometry>
        <cylinder radius="0.02717" length="0.060377"/>
      </geometry>
    </visual>
    <collision>
      <origin xyz="0.117011 -0.32073 0.1829" rpy="-1.5708 0 1.5708"/>
      <geometry>
        <cylinder radius="0.02717" length="0.060377"/>
      </geometry>
    </collision>
    <visual>
      <origin xyz="0.117011 -0.25867 0.180358" rpy="0 0.05 1.570795"/>
      <geometry>
        <box size="0.09434 0.060377 0.053208"/>
      </geometry>
    </visual>
    <collision>
      <origin xyz="0.117011 -0.25867 0.180358" rpy="0 0.05 1.570795"/>
      <geometry>
        <box size="0.09434 0.060377 0.053208"/>
      </geometry>
    </collision>
    <visual>
      <origin xyz="0.149087 -0.023654 0.007772" rpy="-0.656375 0 0"/>
      <geometry>
        <box size="0.016226 0.177358 0.071698"/>
      </geometry>
    </visual>
    <collision>
      <origin xyz="0.149087 -0.023654 0.007772" rpy="-0.656375 0 0"/>
      <geometry>
        <box size="0.016226 0.177358 0.071698"/>
      </geometry>
    </collision>
    <visual>
      <origin xyz="0.14944 -0.001095 0.048195" rpy="-0.688653 0.282831 -0.225783"/>
      <geometry>
        <box size="0.004528 0.173585 0.015094"/>
      </geometry>
    </visual>
    <collision>
      <origin xyz="0.14944 -0.001095 0.048195" rpy="-0.688653 0.282831 -0.225783"/>
      <geometry>
        <box size="0.004528 0.173585 0.015094"/>
      </geometry>
    </collision>
    <visual>
      <origin xyz="0.143963 -0.142325 0.149419" rpy="-0.689784 0.390399 -0.237371"/>
      <geometry>
        <box size="0.004528 0.173585 0.015094"/>
      </geometry>
    </visual>
    <collision>
      <origin xyz="0.143963 -0.142325 0.149419" rpy="-0.689784 0.390399 -0.237371"/>
      <geometry>
        <box size="0.004528 0.173585 0.015094"/>
      </geometry>
    </collision>
    <visual>
      <origin xyz="0.143376 -0.16295 0.113632" rpy="-0.64577 0.030504 0.039623"/>
      <geometry>
        <box size="0.016226 0.173585 0.071698"/>
      </geometry>
    </visual>
    <collision>
      <origin xyz="0.143376 -0.16295 0.113632" rpy="-0.64577 0.030504 0.039623"/>
      <geometry>
        <box size="0.016226 0.173585 0.071698"/>
      </geometry>
    </collision>
    <visual>
      <origin xyz="0.113992 -0.21476 0.154045" rpy="-0.656375 0 0"/>
      <geometry>
        <box size="0.054717 0.098113 0.064151"/>
      </geometry>
    </visual>
    <collision>
      <origin xyz="0.113992 -0.21476 0.154045" rpy="-0.656375 0 0"/>
      <geometry>
        <box size="0.054717 0.098113 0.064151"/>
      </geometry>
    </collision>
    <visual>
      <origin xyz="0.113238 -0.119427 0.086296" rpy="-2.227175 0 0"/>
      <geometry>
        <cylinder radius="0.028679" length="0.150943"/>
      </geometry>
    </visual>
    <collision>
      <origin xyz="0.113238 -0.119427 0.086296" rpy="-2.227175 0 0"/>
      <geometry>
        <cylinder radius="0.028679" length="0.150943"/>
      </geometry>
    </collision>
    <visual>
      <origin xyz="0.113238 -0.04459 0.028636" rpy="-2.227175 0 0"/>
      <geometry>
        <cylinder radius="0.037736" length="0.041509"/>
      </geometry>
    </visual>
    <collision>
      <origin xyz="0.113238 -0.04459 0.028636" rpy="-2.227175 0 0"/>
      <geometry>
        <cylinder radius="0.037736" length="0.041509"/>
      </geometry>
    </collision>
    <visual>
      <origin xyz="0.113738 -0.02284 -0.046726" rpy="-0.656375 0 0"/>
      <geometry>
        <box size="0.061509 0.069811 0.011321"/>
      </geometry>
    </visual>
    <collision>
      <origin xyz="0.113738 -0.02284 -0.046726" rpy="-0.656375 0 0"/>
      <geometry>
        <box size="0.061509 0.069811 0.011321"/>
      </geometry>
    </collision>
    <visual>
      <origin xyz="0.073615 -0.00019 -0.000689" rpy="-1.5708 0 1.5708"/>
      <geometry>
        <cylinder radius="0.04" length="0.037736"/>
      </geometry>
    </visual>
    <collision>
      <origin xyz="0.073615 -0.00019 -0.000689" rpy="-1.5708 0 1.5708"/>
      <geometry>
        <cylinder radius="0.04" length="0.037736"/>
      </geometry>
    </collision>
    <visual>
      <origin xyz="0.115879 0.008331 -0.011344" rpy="-2.227175 0 0"/>
      <geometry>
        <cylinder radius="0.033962" length="0.086792"/>
      </geometry>
    </visual>
    <collision>
      <origin xyz="0.115879 0.008331 -0.011344" rpy="-2.227175 0 0"/>
      <geometry>
        <cylinder radius="0.033962" length="0.086792"/>
      </geometry>
    </collision>
    <visual>
      <origin xyz="0.12154 0.053961 -0.047932" rpy="-0.656375 0 0"/>
      <geometry>
        <box size="0.064151 0.003774 0.071698"/>
      </geometry>
    </visual>
    <collision>
      <origin xyz="0.12154 0.053961 -0.047932" rpy="-0.656375 0 0"/>
      <geometry>
        <box size="0.064151 0.003774 0.071698"/>
      </geometry>
    </collision>
    <visual>
      <origin xyz="0.12003 0.073308 -0.006499" rpy="0.013625 0 0"/>
      <geometry>
        <box size="0.060377 0.007547 0.022642"/>
      </geometry>
    </visual>
    <collision>
      <origin xyz="0.12003 0.073308 -0.006499" rpy="0.013625 0 0"/>
      <geometry>
        <box size="0.060377 0.007547 0.022642"/>
      </geometry>
    </collision>
    <visual>
      <origin xyz="0.117011 -0.13635 0.154336" rpy="0.99 0 0"/>
      <geometry>
        <box size="0.049057 0.005283 0.169811"/>
      </geometry>
    </visual>
    <collision>
      <origin xyz="0.117011 -0.13635 0.154336" rpy="0.99 0 0"/>
      <geometry>
        <box size="0.049057 0.005283 0.169811"/>
      </geometry>
    </collision>
    <visual>
      <origin xyz="0.083111 -0.31378 0.182934" rpy="0 -0.076371 1.570798"/>
      <geometry>
        <box size="0.044 0.008 0.0387"/>
      </geometry>
    </visual>
    <collision>
      <origin xyz="0.083111 -0.31378 0.182934" rpy="0 -0.076371 1.570798"/>
      <geometry>
        <box size="0.044 0.008 0.0387"/>
      </geometry>
    </collision>
  </link>
  <joint name="rear right elbow motor" type="revolute">
    <parent link="rear right upperarm"/>
    <child link="rear right forearm"/>
    <axis xyz="1 0 0"/>
    <limit effort="50" lower="-0.45" upper="1.6" velocity="10"/>
    <origin xyz="0.1122 -0.319729 0.182338" rpy="0 0 0"/>
  </joint>
  <link name="rear right forearm">
    <visual>
      <origin xyz="0.001038 -0.271321 -0.225038" rpy="-1.5708 0 1.570801"/>
      <geometry>
        <cylinder radius="0.035094" length="0.039623"/>
      </geometry>
    </visual>
    <collision>
      <origin xyz="0.001038 -0.271321 -0.225038" rpy="-1.5708 0 1.570801"/>
      <geometry>
        <cylinder radius="0.035094" length="0.039623"/>
      </geometry>
    </collision>
    <visual>
      <origin xyz="0.001038 -0.227421 -0.230239" rpy="-0.947675 0 0"/>
      <geometry>
        <box size="0.037736 0.006038 0.041509"/>
      </geometry>
    </visual>
    <collision>
      <origin xyz="0.001038 -0.227421 -0.230239" rpy="-0.947675 0 0"/>
      <geometry>
        <box size="0.037736 0.006038 0.041509"/>
      </geometry>
    </collision>
    <visual>
      <origin xyz="0.001038 -0.232272 -0.198255" rpy="-0.093185 0 0"/>
      <geometry>
        <box size="0.037736 0.045283 0.006792"/>
      </geometry>
    </visual>
    <collision>
      <origin xyz="0.001038 -0.232272 -0.198255" rpy="-0.093185 0 0"/>
      <geometry>
        <box size="0.037736 0.045283 0.006792"/>
      </geometry>
    </collision>
    <visual>
      <origin xyz="0.001038 -0.205751 -0.206348" rpy="0.616815 0 0"/>
      <geometry>
        <box size="0.025283 0.022642 0.020755"/>
      </geometry>
    </visual>
    <collision>
      <origin xyz="0.001038 -0.205751 -0.206348" rpy="0.616815 0 0"/>
      <geometry>
        <box size="0.025283 0.022642 0.020755"/>
      </geometry>
    </collision>
    <visual>
      <origin xyz="0.001038 -0.168611 -0.18111" rpy="-2.513185 0 0"/>
      <geometry>
        <box size="0.019245 0.071698 0.017358"/>
      </geometry>
    </visual>
    <collision>
      <origin xyz="0.001038 -0.168611 -0.18111" rpy="-2.513185 0 0"/>
      <geometry>
        <box size="0.019245 0.071698 0.017358"/>
      </geometry>
    </collision>
    <visual>
      <origin xyz="0.001038 -0.125111 -0.148236" rpy="0.663625 0 0"/>
      <geometry>
        <box size="0.021887 0.037736 0.018491"/>
      </geometry>
    </visual>
    <collision>
      <origin xyz="0.001038 -0.125111 -0.148236" rpy="0.663625 0 0"/>
      <geometry>
        <box size="0.021887 0.037736 0.018491"/>
      </geometry>
    </collision>
    <visual>
      <origin xyz="0.001038 -0.100861 -0.126163" rpy="0.760415 0 0"/>
      <geometry>
        <box size="0.026415 0.030189 0.021132"/>
      </geometry>
    </visual>
    <collision>
      <origin xyz="0.001038 -0.100861 -0.126163" rpy="0.760415 0 0"/>
      <geometry>
        <box size="0.026415 0.030189 0.021132"/>
      </geometry>
    </collision>
    <visual>
      <origin xyz="0.001038 -0.084241 -0.106843" rpy="0.867225 0 0"/>
      <geometry>
        <box size="0.032453 0.022642 0.024528"/>
      </geometry>
    </visual>
    <collision>
      <origin xyz="0.001038 -0.084241 -0.106843" rpy="0.867225 0 0"/>
      <geometry>
        <box size="0.032453 0.022642 0.024528"/>
      </geometry>
    </collision>
    <visual>
      <origin xyz="0.001038 -0.068551 -0.08661" rpy="0.907225 0 0"/>
      <geometry>
        <box size="0.037736 0.033962 0.026415"/>
      </geometry>
    </visual>
    <collision>
      <origin xyz="0.001038 -0.068551 -0.08661" rpy="0.907225 0 0"/>
      <geometry>
        <box size="0.037736 0.033962 0.026415"/>
      </geometry>
    </collision>
    <visual>
      <origin xyz="0.001038 -0.049721 -0.059227" rpy="0.933245 0 0"/>
      <geometry>
        <cylinder radius="0.024528" length="0.030566"/>
      </geometry>
    </visual>
    <collision>
      <origin xyz="0.001038 -0.049721 -0.059227" rpy="0.933245 0 0"/>
      <geometry>
        <cylinder radius="0.024528" length="0.030566"/>
      </geometry>
    </collision>
    <visual>
      <origin xyz="0.001038 -0.034991 -0.038166" rpy="0.937225 0 0"/>
      <geometry>
        <box size="0.038113 0.022642 0.032075"/>
      </geometry>
    </visual>
    <collision>
      <origin xyz="0.001038 -0.034991 -0.038166" rpy="0.937225 0 0"/>
      <geometry>
        <box size="0.038113 0.022642 0.032075"/>
      </geometry>
    </collision>
    <visual>
      <origin xyz="0.001038 -0.022931 -0.021744" rpy="0.937225 0 0"/>
      <geometry>
        <box size="0.031321 0.018868 0.03283"/>
      </geometry>
    </visual>
    <collision>
      <origin xyz="0.001038 -0.022931 -0.021744" rpy="0.937225 0 0"/>
      <geometry>
        <box size="0.031321 0.018868 0.03283"/>
      </geometry>
    </collision>
    <visual>
      <origin xyz="0.001038 -0.010711 -0.006332" rpy="0.834035 0 0"/>
      <geometry>
        <box size="0.027925 0.018868 0.03283"/>
      </geometry>
    </visual>
    <collision>
      <origin xyz="0.001038 -0.010711 -0.006332" rpy="0.834035 0 0"/>
      <geometry>
        <box size="0.027925 0.018868 0.03283"/>
      </geometry>
    </collision>
    <visual>
      <origin xyz="0.001038 0.004299 0.006862" rpy="0.680845 0 0"/>
      <geometry>
        <box size="0.027547 0.018868 0.034717"/>
      </geometry>
    </visual>
    <collision>
      <origin xyz="0.001038 0.004299 0.006862" rpy="0.680845 0 0"/>
      <geometry>
        <box size="0.027547 0.018868 0.034717"/>
      </geometry>
    </collision>
    <visual>
      <origin xyz="0.001038 0.021259 0.019851" rpy="0.604465 0 0"/>
      <geometry>
        <box size="0.020377 0.026415 0.03434"/>
      </geometry>
    </visual>
    <collision>
      <origin xyz="0.001038 0.021259 0.019851" rpy="0.604465 0 0"/>
      <geometry>
        <box size="0.020377 0.026415 0.03434"/>
      </geometry>
    </collision>
    <visual>
      <origin xyz="0.001038 0.019179 -0.009531" rpy="0.494895 0 0"/>
      <geometry>
        <box size="0.010189 0.05283 0.00717"/>
      </geometry>
    </visual>
    <collision>
      <origin xyz="0.001038 0.019179 -0.009531" rpy="0.494895 0 0"/>
      <geometry>
        <box size="0.010189 0.05283 0.00717"/>
      </geometry>
    </collision>
    <visual>
      <origin xyz="0.001038 0.037459 0.024742" rpy="-1.5708 0 1.5708"/>
      <geometry>
        <cylinder radius="0.021887" length="0.019736"/>
      </geometry>
    </visual>
    <collision>
      <origin xyz="0.001038 0.037459 0.024742" rpy="-1.5708 0 1.5708"/>
      <geometry>
        <cylinder radius="0.021887" length="0.019736"/>
      </geometry>
    </collision>
  </link>
  <link name="rear right touch sensor">
  </link>
  <joint name="rear right forearm_rear right touch sensor_joint" type="fixed">
    <parent link="rear right forearm"/>
    <child link="rear right touch sensor"/>
    <origin xyz="0.001038 -0.271321 -0.225038" rpy="-1.5708 0 1.570801"/>
  </joint>
  <joint name="rear right piston motor" type="continuous">
    <parent link="rear right upperarm"/>
    <child link="solid_0"/>
    <axis xyz="1 0 0"/>
    <limit effort="10" velocity="10"/>
    <origin xyz="0.1172 -0.29077 0.2083" rpy="-0.5236 0 0"/>
  </joint>
  <link name="solid_0">
  </link>
  <joint name="rear left shoulder abduction motor" type="revolute">
    <parent link="base_link"/>
    <child link="rear left shoulder"/>
    <axis xyz="0 0 1"/>
    <limit effort="50" lower="-0.6" upper="0.5" velocity="10"/>
    <origin xyz="-0.3084 0.0528 0.012299" rpy="1.5708 -0.00001 -1.570793"/>
  </joint>
  <link name="rear left shoulder">
    <visual>
      <origin xyz="0.004874 0.000873 -0.000643" rpy="0 0 0"/>
      <geometry>
        <box size="0.086792 0.124528 0.120755"/>
      </geometry>
    </visual>
    <collision>
      <origin xyz="0.004874 0.000873 -0.000643" rpy="0 0 0"/>
      <geometry>
        <box size="0.086792 0.124528 0.120755"/>
      </geometry>
    </collision>
    <visual>
      <origin xyz="-0.006447 0.000873 -0.000643" rpy="0 0 0"/>
      <geometry>
        <box size="0.098113 0.098113 0.098113"/>
      </geometry>
    </visual>
    <collision>
      <origin xyz="-0.006447 0.000873 -0.000643" rpy="0 0 0"/>
      <geometry>
        <box size="0.098113 0.098113 0.098113"/>
      </geometry>
    </collision>
    <visual>
      <origin xyz="-0.058145 0.000873 -0.000643" rpy="-1.5708 0 1.5708"/>
      <geometry>
        <cylinder radius="0.047925" length="0.006038"/>
      </geometry>
    </visual>
    <collision>
      <origin xyz="-0.058145 0.000873 -0.000643" rpy="-1.5708 0 1.5708"/>
      <geometry>
        <cylinder radius="0.047925" length="0.006038"/>
      </geometry>
    </collision>
  </link>
  <joint name="rear left shoulder rotation motor" type="revolute">
    <parent link="rear left shoulder"/>
    <child link="rear left upperarm"/>
    <axis xyz="1 0 0"/>
    <limit effort="50" lower="-1.7" upper="1.7" velocity="10"/>
    <origin xyz="0 -0.00053 0" rpy="0 0 0"/>
  </joint>
  <link name="rear left upperarm">
    <visual>
      <origin xyz="-0.117011 -0.32073 0.1829" rpy="-1.5708 0 1.5708"/>
      <geometry>
        <cylinder radius="0.02717" length="0.060377"/>
      </geometry>
    </visual>
    <collision>
      <origin xyz="-0.117011 -0.32073 0.1829" rpy="-1.5708 0 1.5708"/>
      <geometry>
        <cylinder radius="0.02717" length="0.060377"/>
      </geometry>
    </collision>
    <visual>
      <origin xyz="-0.117011 -0.25867 0.180358" rpy="0 0.05 1.570795"/>
      <geometry>
        <box size="0.09434 0.060377 0.053208"/>
      </geometry>
    </visual>
    <collision>
      <origin xyz="-0.117011 -0.25867 0.180358" rpy="0 0.05 1.570795"/>
      <geometry>
        <box size="0.09434 0.060377 0.053208"/>
      </geometry>
    </collision>
    <visual>
      <origin xyz="-0.149087 -0.023654 0.007772" rpy="-0.656375 0 0"/>
      <geometry>
        <box size="0.016226 0.177358 0.071698"/>
      </geometry>
    </visual>
    <collision>
      <origin xyz="-0.149087 -0.023654 0.007772" rpy="-0.656375 0 0"/>
      <geometry>
        <box size="0.016226 0.177358 0.071698"/>
      </geometry>
    </collision>
    <visual>
      <origin xyz="-0.14944 -0.001095 0.048195" rpy="-0.688653 0.282831 -0.225783"/>
      <geometry>
        <box size="0.004528 0.173585 0.015094"/>
      </geometry>
    </visual>
    <collision>
      <origin xyz="-0.14944 -0.001095 0.048195" rpy="-0.688653 0.282831 -0.225783"/>
      <geometry>
        <box size="0.004528 0.173585 0.015094"/>
      </geometry>
    </collision>
    <visual>
      <origin xyz="-0.143963 -0.142325 0.149419" rpy="-0.689784 0.390399 -0.237371"/>
      <geometry>
        <box size="0.004528 0.173585 0.015094"/>
      </geometry>
    </visual>
    <collision>
      <origin xyz="-0.143963 -0.142325 0.149419" rpy="-0.689784 0.390399 -0.237371"/>
      <geometry>
        <box size="0.004528 0.173585 0.015094"/>
      </geometry>
    </collision>
    <visual>
      <origin xyz="-0.143376 -0.16295 0.113632" rpy="-0.64577 0.030504 0.039623"/>
      <geometry>
        <box size="0.016226 0.173585 0.071698"/>
      </geometry>
    </visual>
    <collision>
      <origin xyz="-0.143376 -0.16295 0.113632" rpy="-0.64577 0.030504 0.039623"/>
      <geometry>
        <box size="0.016226 0.173585 0.071698"/>
      </geometry>
    </collision>
    <visual>
      <origin xyz="-0.113992 -0.21476 0.154045" rpy="-0.656375 0 0"/>
      <geometry>
        <box size="0.054717 0.098113 0.064151"/>
      </geometry>
    </visual>
    <collision>
      <origin xyz="-0.113992 -0.21476 0.154045" rpy="-0.656375 0 0"/>
      <geometry>
        <box size="0.054717 0.098113 0.064151"/>
      </geometry>
    </collision>
    <visual>
      <origin xyz="-0.113238 -0.119427 0.086296" rpy="-2.227175 0 0"/>
      <geometry>
        <cylinder radius="0.028679" length="0.150943"/>
      </geometry>
    </visual>
    <collision>
      <origin xyz="-0.113238 -0.119427 0.086296" rpy="-2.227175 0 0"/>
      <geometry>
        <cylinder radius="0.028679" length="0.150943"/>
      </geometry>
    </collision>
    <visual>
      <origin xyz="-0.113238 -0.04459 0.028636" rpy="-2.227175 0 0"/>
      <geometry>
        <cylinder radius="0.037736" length="0.041509"/>
      </geometry>
    </visual>
    <collision>
      <origin xyz="-0.113238 -0.04459 0.028636" rpy="-2.227175 0 0"/>
      <geometry>
        <cylinder radius="0.037736" length="0.041509"/>
      </geometry>
    </collision>
    <visual>
      <origin xyz="-0.113738 -0.02284 -0.046726" rpy="-0.656375 0 0"/>
      <geometry>
        <box size="0.061509 0.069811 0.011321"/>
      </geometry>
    </visual>
    <collision>
      <origin xyz="-0.113738 -0.02284 -0.046726" rpy="-0.656375 0 0"/>
      <geometry>
        <box size="0.061509 0.069811 0.011321"/>
      </geometry>
    </collision>
    <visual>
      <origin xyz="-0.073615 -0.00019 -0.000689" rpy="-1.5708 0 1.5708"/>
      <geometry>
        <cylinder radius="0.04" length="0.037736"/>
      </geometry>
    </visual>
    <collision>
      <origin xyz="-0.073615 -0.00019 -0.000689" rpy="-1.5708 0 1.5708"/>
      <geometry>
        <cylinder radius="0.04" length="0.037736"/>
      </geometry>
    </collision>
    <visual>
      <origin xyz="-0.115879 0.008331 -0.011344" rpy="-2.227175 0 0"/>
      <geometry>
        <cylinder radius="0.033962" length="0.086792"/>
      </geometry>
    </visual>
    <collision>
      <origin xyz="-0.115879 0.008331 -0.011344" rpy="-2.227175 0 0"/>
      <geometry>
        <cylinder radius="0.033962" length="0.086792"/>
      </geometry>
    </collision>
    <visual>
      <origin xyz="-0.12154 0.053961 -0.047932" rpy="-0.656375 0 0"/>
      <geometry>
        <box size="0.064151 0.003774 0.071698"/>
      </geometry>
    </visual>
    <collision>
      <origin xyz="-0.12154 0.053961 -0.047932" rpy="-0.656375 0 0"/>
      <geometry>
        <box size="0.064151 0.003774 0.071698"/>
      </geometry>
    </collision>
    <visual>
      <origin xyz="-0.12003 0.073308 -0.006499" rpy="0.013625 0 0"/>
      <geometry>
        <box size="0.060377 0.007547 0.022642"/>
      </geometry>
    </visual>
    <collision>
      <origin xyz="-0.12003 0.073308 -0.006499" rpy="0.013625 0 0"/>
      <geometry>
        <box size="0.060377 0.007547 0.022642"/>
      </geometry>
    </collision>
    <visual>
      <origin xyz="-0.117011 -0.13635 0.154336" rpy="0.99 0 0"/>
      <geometry>
        <box size="0.049057 0.005283 0.169811"/>
      </geometry>
    </visual>
    <collision>
      <origin xyz="-0.117011 -0.13635 0.154336" rpy="0.99 0 0"/>
      <geometry>
        <box size="0.049057 0.005283 0.169811"/>
      </geometry>
    </collision>
    <visual>
      <origin xyz="-0.083111 -0.31378 0.182934" rpy="0 -0.076371 1.570798"/>
      <geometry>
        <box size="0.044 0.008 0.0387"/>
      </geometry>
    </visual>
    <collision>
      <origin xyz="-0.083111 -0.31378 0.182934" rpy="0 -0.076371 1.570798"/>
      <geometry>
        <box size="0.044 0.008 0.0387"/>
      </geometry>
    </collision>
  </link>
  <joint name="rear left elbow motor" type="revolute">
    <parent link="rear left upperarm"/>
    <child link="rear left forearm"/>
    <axis xyz="1 0 0"/>
    <limit effort="50" lower="-0.45" upper="1.6" velocity="10"/>
    <origin xyz="-0.1122 -0.319729 0.182338" rpy="0 0 0"/>
  </joint>
  <link name="rear left forearm">
    <visual>
      <origin xyz="-0.001038 -0.271321 -0.225038" rpy="-1.5708 0 1.570801"/>
      <geometry>
        <cylinder radius="0.035094" length="0.039623"/>
      </geometry>
    </visual>
    <collision>
      <origin xyz="-0.001038 -0.271321 -0.225038" rpy="-1.5708 0 1.570801"/>
      <geometry>
        <cylinder radius="0.035094" length="0.039623"/>
      </geometry>
    </collision>
    <visual>
      <origin xyz="-0.001038 -0.227421 -0.230239" rpy="-0.947675 0 0"/>
      <geometry>
        <box size="0.037736 0.006038 0.041509"/>
      </geometry>
    </visual>
    <collision>
      <origin xyz="-0.001038 -0.227421 -0.230239" rpy="-0.947675 0 0"/>
      <geometry>
        <box size="0.037736 0.006038 0.041509"/>
      </geometry>
    </collision>
    <visual>
      <origin xyz="-0.001038 -0.232272 -0.198255" rpy="-0.093185 0 0"/>
      <geometry>
        <box size="0.037736 0.045283 0.006792"/>
      </geometry>
    </visual>
    <collision>
      <origin xyz="-0.001038 -0.232272 -0.198255" rpy="-0.093185 0 0"/>
      <geometry>
        <box size="0.037736 0.045283 0.006792"/>
      </geometry>
    </collision>
    <visual>
      <origin xyz="-0.001038 -0.205751 -0.206348" rpy="0.616815 0 0"/>
      <geometry>
        <box size="0.025283 0.022642 0.020755"/>
      </geometry>
    </visual>
    <collision>
      <origin xyz="-0.001038 -0.205751 -0.206348" rpy="0.616815 0 0"/>
      <geometry>
        <box size="0.025283 0.022642 0.020755"/>
      </geometry>
    </collision>
    <visual>
      <origin xyz="-0.001038 -0.168611 -0.18111" rpy="-2.513185 0 0"/>
      <geometry>
        <box size="0.019245 0.071698 0.017358"/>
      </geometry>
    </visual>
    <collision>
      <origin xyz="-0.001038 -0.168611 -0.18111" rpy="-2.513185 0 0"/>
      <geometry>
        <box size="0.019245 0.071698 0.017358"/>
      </geometry>
    </collision>
    <visual>
      <origin xyz="-0.001038 -0.125111 -0.148236" rpy="0.663625 0 0"/>
      <geometry>
        <box size="0.021887 0.037736 0.018491"/>
      </geometry>
    </visual>
    <collision>
      <origin xyz="-0.001038 -0.125111 -0.148236" rpy="0.663625 0 0"/>
      <geometry>
        <box size="0.021887 0.037736 0.018491"/>
      </geometry>
    </collision>
    <visual>
      <origin xyz="-0.001038 -0.100861 -0.126163" rpy="0.760415 0 0"/>
      <geometry>
        <box size="0.026415 0.030189 0.021132"/>
      </geometry>
    </visual>
    <collision>
      <origin xyz="-0.001038 -0.100861 -0.126163" rpy="0.760415 0 0"/>
      <geometry>
        <box size="0.026415 0.030189 0.021132"/>
      </geometry>
    </collision>
    <visual>
      <origin xyz="-0.001038 -0.084241 -0.106843" rpy="0.867225 0 0"/>
      <geometry>
        <box size="0.032453 0.022642 0.024528"/>
      </geometry>
    </visual>
    <collision>
      <origin xyz="-0.001038 -0.084241 -0.106843" rpy="0.867225 0 0"/>
      <geometry>
        <box size="0.032453 0.022642 0.024528"/>
      </geometry>
    </collision>
    <visual>
      <origin xyz="-0.001038 -0.068551 -0.08661" rpy="0.907225 0 0"/>
      <geometry>
        <box size="0.037736 0.033962 0.026415"/>
      </geometry>
    </visual>
    <collision>
      <origin xyz="-0.001038 -0.068551 -0.08661" rpy="0.907225 0 0"/>
      <geometry>
        <box size="0.037736 0.033962 0.026415"/>
      </geometry>
    </collision>
    <visual>
      <origin xyz="-0.001038 -0.049721 -0.059227" rpy="0.933245 0 0"/>
      <geometry>
        <cylinder radius="0.024528" length="0.030566"/>
      </geometry>
    </visual>
    <collision>
      <origin xyz="-0.001038 -0.049721 -0.059227" rpy="0.933245 0 0"/>
      <geometry>
        <cylinder radius="0.024528" length="0.030566"/>
      </geometry>
    </collision>
    <visual>
      <origin xyz="-0.001038 -0.034991 -0.038166" rpy="0.937225 0 0"/>
      <geometry>
        <box size="0.038113 0.022642 0.032075"/>
      </geometry>
    </visual>
    <collision>
      <origin xyz="-0.001038 -0.034991 -0.038166" rpy="0.937225 0 0"/>
      <geometry>
        <box size="0.038113 0.022642 0.032075"/>
      </geometry>
    </collision>
    <visual>
      <origin xyz="-0.001038 -0.022931 -0.021744" rpy="0.937225 0 0"/>
      <geometry>
        <box size="0.031321 0.018868 0.03283"/>
      </geometry>
    </visual>
    <collision>
      <origin xyz="-0.001038 -0.022931 -0.021744" rpy="0.937225 0 0"/>
      <geometry>
        <box size="0.031321 0.018868 0.03283"/>
      </geometry>
    </collision>
    <visual>
      <origin xyz="-0.001038 -0.010711 -0.006332" rpy="0.834035 0 0"/>
      <geometry>
        <box size="0.027925 0.018868 0.03283"/>
      </geometry>
    </visual>
    <collision>
      <origin xyz="-0.001038 -0.010711 -0.006332" rpy="0.834035 0 0"/>
      <geometry>
        <box size="0.027925 0.018868 0.03283"/>
      </geometry>
    </collision>
    <visual>
      <origin xyz="-0.001038 0.004299 0.006862" rpy="0.680845 0 0"/>
      <geometry>
        <box size="0.027547 0.018868 0.034717"/>
      </geometry>
    </visual>
    <collision>
      <origin xyz="-0.001038 0.004299 0.006862" rpy="0.680845 0 0"/>
      <geometry>
        <box size="0.027547 0.018868 0.034717"/>
      </geometry>
    </collision>
    <visual>
      <origin xyz="-0.001038 0.021259 0.019851" rpy="0.604465 0 0"/>
      <geometry>
        <box size="0.020377 0.026415 0.03434"/>
      </geometry>
    </visual>
    <collision>
      <origin xyz="-0.001038 0.021259 0.019851" rpy="0.604465 0 0"/>
      <geometry>
        <box size="0.020377 0.026415 0.03434"/>
      </geometry>
    </collision>
    <visual>
      <origin xyz="-0.001038 0.019179 -0.009531" rpy="0.494895 0 0"/>
      <geometry>
        <box size="0.010189 0.05283 0.00717"/>
      </geometry>
    </visual>
    <collision>
      <origin xyz="-0.001038 0.019179 -0.009531" rpy="0.494895 0 0"/>
      <geometry>
        <box size="0.010189 0.05283 0.00717"/>
      </geometry>
    </collision>
    <visual>
      <origin xyz="-0.001038 0.037459 0.024742" rpy="-1.5708 0 1.5708"/>
      <geometry>
        <cylinder radius="0.021887" length="0.019736"/>
      </geometry>
    </visual>
    <collision>
      <origin xyz="-0.001038 0.037459 0.024742" rpy="-1.5708 0 1.5708"/>
      <geometry>
        <cylinder radius="0.021887" length="0.019736"/>
      </geometry>
    </collision>
  </link>
  <link name="rear left touch sensor">
  </link>
  <joint name="rear left forearm_rear left touch sensor_joint" type="fixed">
    <parent link="rear left forearm"/>
    <child link="rear left touch sensor"/>
    <origin xyz="0.001038 -0.271321 -0.225038" rpy="-1.5708 0 1.570801"/>
  </joint>
  <joint name="rear left piston motor" type="continuous">
    <parent link="rear left upperarm"/>
    <child link="solid_1"/>
    <axis xyz="1 0 0"/>
    <limit effort="10" velocity="10"/>
    <origin xyz="-0.1172 -0.29077 0.2083" rpy="-0.5236 0 0"/>
  </joint>
  <link name="solid_1">
  </link>
  <joint name="front right shoulder abduction motor" type="revolute">
    <parent link="base_link"/>
    <child link="front right shoulder"/>
    <axis xyz="0 0 1"/>
    <limit effort="50" lower="-0.6" upper="0.5" velocity="10"/>
    <origin xyz="0.3635 -0.0528 0.012401" rpy="1.5708 -0.00001 -1.570793"/>
  </joint>
  <link name="front right shoulder">
    <visual>
      <origin xyz="-0.004874 0.000873 -0.000643" rpy="0 0 0"/>
      <geometry>
        <box size="0.086792 0.124528 0.120755"/>
      </geometry>
    </visual>
    <collision>
      <origin xyz="-0.004874 0.000873 -0.000643" rpy="0 0 0"/>
      <geometry>
        <box size="0.086792 0.124528 0.120755"/>
      </geometry>
    </collision>
    <visual>
      <origin xyz="0.006447 0.000873 -0.000643" rpy="0 0 0"/>
      <geometry>
        <box size="0.098113 0.098113 0.098113"/>
      </geometry>
    </visual>
    <collision>
      <origin xyz="0.006447 0.000873 -0.000643" rpy="0 0 0"/>
      <geometry>
        <box size="0.098113 0.098113 0.098113"/>
      </geometry>
    </collision>
    <visual>
      <origin xyz="0.058145 0.000873 -0.000643" rpy="-1.5708 0 1.5708"/>
      <geometry>
        <cylinder radius="0.047925" length="0.006038"/>
      </geometry>
    </visual>
    <collision>
      <origin xyz="0.058145 0.000873 -0.000643" rpy="-1.5708 0 1.5708"/>
      <geometry>
        <cylinder radius="0.047925" length="0.006038"/>
      </geometry>
    </collision>
  </link>
  <joint name="front right shoulder rotation motor" type="revolute">
    <parent link="front right shoulder"/>
    <child link="front right upperarm"/>
    <axis xyz="1 0 0"/>
    <limit effort="50" lower="-1.7" upper="1.7" velocity="10"/>
    <origin xyz="0 -0.00053 0" rpy="0 0 0"/>
  </joint>
  <link name="front right upperarm">
    <visual>
      <origin xyz="0.117011 -0.32073 0.1829" rpy="-1.5708 0 1.5708"/>
      <geometry>
        <cylinder radius="0.02717" length="0.060377"/>
      </geometry>
    </visual>
    <collision>
      <origin xyz="0.117011 -0.32073 0.1829" rpy="-1.5708 0 1.5708"/>
      <geometry>
        <cylinder radius="0.02717" length="0.060377"/>
      </geometry>
    </collision>
    <visual>
      <origin xyz="0.117011 -0.25867 0.180358" rpy="0 0.05 1.570795"/>
      <geometry>
        <box size="0.09434 0.060377 0.053208"/>
      </geometry>
    </visual>
    <collision>
      <origin xyz="0.117011 -0.25867 0.180358" rpy="0 0.05 1.570795"/>
      <geometry>
        <box size="0.09434 0.060377 0.053208"/>
      </geometry>
    </collision>
    <visual>
      <origin xyz="0.149087 -0.023654 0.007772" rpy="-0.656375 0 0"/>
      <geometry>
        <box size="0.016226 0.177358 0.071698"/>
      </geometry>
    </visual>
    <collision>
      <origin xyz="0.149087 -0.023654 0.007772" rpy="-0.656375 0 0"/>
      <geometry>
        <box size="0.016226 0.177358 0.071698"/>
      </geometry>
    </collision>
    <visual>
      <origin xyz="0.14944 -0.001095 0.048195" rpy="-0.688653 0.282831 -0.225783"/>
      <geometry>
        <box size="0.004528 0.173585 0.015094"/>
      </geometry>
    </visual>
    <collision>
      <origin xyz="0.14944 -0.001095 0.048195" rpy="-0.688653 0.282831 -0.225783"/>
      <geometry>
        <box size="0.004528 0.173585 0.015094"/>
      </geometry>
    </collision>
    <visual>
      <origin xyz="0.143963 -0.142325 0.149419" rpy="-0.689784 0.390399 -0.237371"/>
      <geometry>
        <box size="0.004528 0.173585 0.015094"/>
      </geometry>
    </visual>
    <collision>
      <origin xyz="0.143963 -0.142325 0.149419" rpy="-0.689784 0.390399 -0.237371"/>
      <geometry>
        <box size="0.004528 0.173585 0.015094"/>
      </geometry>
    </collision>
    <visual>
      <origin xyz="0.143376 -0.16295 0.113632" rpy="-0.64577 0.030504 0.039623"/>
      <geometry>
        <box size="0.016226 0.173585 0.071698"/>
      </geometry>
    </visual>
    <collision>
      <origin xyz="0.143376 -0.16295 0.113632" rpy="-0.64577 0.030504 0.039623"/>
      <geometry>
        <box size="0.016226 0.173585 0.071698"/>
      </geometry>
    </collision>
    <visual>
      <origin xyz="0.113992 -0.21476 0.154045" rpy="-0.656375 0 0"/>
      <geometry>
        <box size="0.054717 0.098113 0.064151"/>
      </geometry>
    </visual>
    <collision>
      <origin xyz="0.113992 -0.21476 0.154045" rpy="-0.656375 0 0"/>
      <geometry>
        <box size="0.054717 0.098113 0.064151"/>
      </geometry>
    </collision>
    <visual>
      <origin xyz="0.113238 -0.119427 0.086296" rpy="-2.227175 0 0"/>
      <geometry>
        <cylinder radius="0.028679" length="0.150943"/>
      </geometry>
    </visual>
    <collision>
      <origin xyz="0.113238 -0.119427 0.086296" rpy="-2.227175 0 0"/>
      <geometry>
        <cylinder radius="0.028679" length="0.150943"/>
      </geometry>
    </collision>
    <visual>
      <origin xyz="0.113238 -0.04459 0.028636" rpy="-2.227175 0 0"/>
      <geometry>
        <cylinder radius="0.037736" length="0.041509"/>
      </geometry>
    </visual>
    <collision>
      <origin xyz="0.113238 -0.04459 0.028636" rpy="-2.227175 0 0"/>
      <geometry>
        <cylinder radius="0.037736" length="0.041509"/>
      </geometry>
    </collision>
    <visual>
      <origin xyz="0.113738 -0.02284 -0.046726" rpy="-0.656375 0 0"/>
      <geometry>
        <box size="0.061509 0.069811 0.011321"/>
      </geometry>
    </visual>
    <collision>
      <origin xyz="0.113738 -0.02284 -0.046726" rpy="-0.656375 0 0"/>
      <geometry>
        <box size="0.061509 0.069811 0.011321"/>
      </geometry>
    </collision>
    <visual>
      <origin xyz="0.073615 -0.00019 -0.000689" rpy="-1.5708 0 1.5708"/>
      <geometry>
        <cylinder radius="0.04" length="0.037736"/>
      </geometry>
    </visual>
    <collision>
      <origin xyz="0.073615 -0.00019 -0.000689" rpy="-1.5708 0 1.5708"/>
      <geometry>
        <cylinder radius="0.04" length="0.037736"/>
      </geometry>
    </collision>
    <visual>
      <origin xyz="0.115879 0.008331 -0.011344" rpy="-2.227175 0 0"/>
      <geometry>
        <cylinder radius="0.033962" length="0.086792"/>
      </geometry>
    </visual>
    <collision>
      <origin xyz="0.115879 0.008331 -0.011344" rpy="-2.227175 0 0"/>
      <geometry>
        <cylinder radius="0.033962" length="0.086792"/>
      </geometry>
    </collision>
    <visual>
      <origin xyz="0.12154 0.053961 -0.047932" rpy="-0.656375 0 0"/>
      <geometry>
        <box size="0.064151 0.003774 0.071698"/>
      </geometry>
    </visual>
    <collision>
      <origin xyz="0.12154 0.053961 -0.047932" rpy="-0.656375 0 0"/>
      <geometry>
        <box size="0.064151 0.003774 0.071698"/>
      </geometry>
    </collision>
    <visual>
      <origin xyz="0.12003 0.073308 -0.006499" rpy="0.013625 0 0"/>
      <geometry>
        <box size="0.060377 0.007547 0.022642"/>
      </geometry>
    </visual>
    <collision>
      <origin xyz="0.12003 0.073308 -0.006499" rpy="0.013625 0 0"/>
      <geometry>
        <box size="0.060377 0.007547 0.022642"/>
      </geometry>
    </collision>
    <visual>
      <origin xyz="0.117011 -0.13635 0.154336" rpy="0.99 0 0"/>
      <geometry>
        <box size="0.049057 0.005283 0.169811"/>
      </geometry>
    </visual>
    <collision>
      <origin xyz="0.117011 -0.13635 0.154336" rpy="0.99 0 0"/>
      <geometry>
        <box size="0.049057 0.005283 0.169811"/>
      </geometry>
    </collision>
    <visual>
      <origin xyz="0.083111 -0.31378 0.182934" rpy="0 -0.076371 1.570798"/>
      <geometry>
        <box size="0.044 0.008 0.0387"/>
      </geometry>
    </visual>
    <collision>
      <origin xyz="0.083111 -0.31378 0.182934" rpy="0 -0.076371 1.570798"/>
      <geometry>
        <box size="0.044 0.008 0.0387"/>
      </geometry>
    </collision>
  </link>
  <joint name="front right elbow motor" type="revolute">
    <parent link="front right upperarm"/>
    <child link="front right forearm"/>
    <axis xyz="1 0 0"/>
    <limit effort="50" lower="-0.45" upper="1.6" velocity="10"/>
    <origin xyz="0.1122 -0.319729 0.182338" rpy="0 0 0"/>
  </joint>
  <link name="front right forearm">
    <visual>
      <origin xyz="0.001038 -0.271321 -0.225038" rpy="-1.5708 0 1.570801"/>
      <geometry>
        <cylinder radius="0.035094" length="0.039623"/>
      </geometry>
    </visual>
    <collision>
      <origin xyz="0.001038 -0.271321 -0.225038" rpy="-1.5708 0 1.570801"/>
      <geometry>
        <cylinder radius="0.035094" length="0.039623"/>
      </geometry>
    </collision>
    <visual>
      <origin xyz="0.001038 -0.227421 -0.230239" rpy="-0.947675 0 0"/>
      <geometry>
        <box size="0.037736 0.006038 0.041509"/>
      </geometry>
    </visual>
    <collision>
      <origin xyz="0.001038 -0.227421 -0.230239" rpy="-0.947675 0 0"/>
      <geometry>
        <box size="0.037736 0.006038 0.041509"/>
      </geometry>
    </collision>
    <visual>
      <origin xyz="0.001038 -0.232272 -0.198255" rpy="-0.093185 0 0"/>
      <geometry>
        <box size="0.037736 0.045283 0.006792"/>
      </geometry>
    </visual>
    <collision>
      <origin xyz="0.001038 -0.232272 -0.198255" rpy="-0.093185 0 0"/>
      <geometry>
        <box size="0.037736 0.045283 0.006792"/>
      </geometry>
    </collision>
    <visual>
      <origin xyz="0.001038 -0.205751 -0.206348" rpy="0.616815 0 0"/>
      <geometry>
        <box size="0.025283 0.022642 0.020755"/>
      </geometry>
    </visual>
    <collision>
      <origin xyz="0.001038 -0.205751 -0.206348" rpy="0.616815 0 0"/>
      <geometry>
        <box size="0.025283 0.022642 0.020755"/>
      </geometry>
    </collision>
    <visual>
      <origin xyz="0.001038 -0.168611 -0.18111" rpy="-2.513185 0 0"/>
      <geometry>
        <box size="0.019245 0.071698 0.017358"/>
      </geometry>
    </visual>
    <collision>
      <origin xyz="0.001038 -0.168611 -0.18111" rpy="-2.513185 0 0"/>
      <geometry>
        <box size="0.019245 0.071698 0.017358"/>
      </geometry>
    </collision>
    <visual>
      <origin xyz="0.001038 -0.125111 -0.148236" rpy="0.663625 0 0"/>
      <geometry>
        <box size="0.021887 0.037736 0.018491"/>
      </geometry>
    </visual>
    <collision>
      <origin xyz="0.001038 -0.125111 -0.148236" rpy="0.663625 0 0"/>
      <geometry>
        <box size="0.021887 0.037736 0.018491"/>
      </geometry>
    </collision>
    <visual>
      <origin xyz="0.001038 -0.100861 -0.126163" rpy="0.760415 0 0"/>
      <geometry>
        <box size="0.026415 0.030189 0.021132"/>
      </geometry>
    </visual>
    <collision>
      <origin xyz="0.001038 -0.100861 -0.126163" rpy="0.760415 0 0"/>
      <geometry>
        <box size="0.026415 0.030189 0.021132"/>
      </geometry>
    </collision>
    <visual>
      <origin xyz="0.001038 -0.084241 -0.106843" rpy="0.867225 0 0"/>
      <geometry>
        <box size="0.032453 0.022642 0.024528"/>
      </geometry>
    </visual>
    <collision>
      <origin xyz="0.001038 -0.084241 -0.106843" rpy="0.867225 0 0"/>
      <geometry>
        <box size="0.032453 0.022642 0.024528"/>
      </geometry>
    </collision>
    <visual>
      <origin xyz="0.001038 -0.068551 -0.08661" rpy="0.907225 0 0"/>
      <geometry>
        <box size="0.037736 0.033962 0.026415"/>
      </geometry>
    </visual>
    <collision>
      <origin xyz="0.001038 -0.068551 -0.08661" rpy="0.907225 0 0"/>
      <geometry>
        <box size="0.037736 0.033962 0.026415"/>
      </geometry>
    </collision>
    <visual>
      <origin xyz="0.001038 -0.049721 -0.059227" rpy="0.933245 0 0"/>
      <geometry>
        <cylinder radius="0.024528" length="0.030566"/>
      </geometry>
    </visual>
    <collision>
      <origin xyz="0.001038 -0.049721 -0.059227" rpy="0.933245 0 0"/>
      <geometry>
        <cylinder radius="0.024528" length="0.030566"/>
      </geometry>
    </collision>
    <visual>
      <origin xyz="0.001038 -0.034991 -0.038166" rpy="0.937225 0 0"/>
      <geometry>
        <box size="0.038113 0.022642 0.032075"/>
      </geometry>
    </visual>
    <collision>
      <origin xyz="0.001038 -0.034991 -0.038166" rpy="0.937225 0 0"/>
      <geometry>
        <box size="0.038113 0.022642 0.032075"/>
      </geometry>
    </collision>
    <visual>
      <origin xyz="0.001038 -0.022931 -0.021744" rpy="0.937225 0 0"/>
      <geometry>
        <box size="0.031321 0.018868 0.03283"/>
      </geometry>
    </visual>
    <collision>
      <origin xyz="0.001038 -0.022931 -0.021744" rpy="0.937225 0 0"/>
      <geometry>
        <box size="0.031321 0.018868 0.03283"/>
      </geometry>
    </collision>
    <visual>
      <origin xyz="0.001038 -0.010711 -0.006332" rpy="0.834035 0 0"/>
      <geometry>
        <box size="0.027925 0.018868 0.03283"/>
      </geometry>
    </visual>
    <collision>
      <origin xyz="0.001038 -0.010711 -0.006332" rpy="0.834035 0 0"/>
      <geometry>
        <box size="0.027925 0.018868 0.03283"/>
      </geometry>
    </collision>
    <visual>
      <origin xyz="0.001038 0.004299 0.006862" rpy="0.680845 0 0"/>
      <geometry>
        <box size="0.027547 0.018868 0.034717"/>
      </geometry>
    </visual>
    <collision>
      <origin xyz="0.001038 0.004299 0.006862" rpy="0.680845 0 0"/>
      <geometry>
        <box size="0.027547 0.018868 0.034717"/>
      </geometry>
    </collision>
    <visual>
      <origin xyz="0.001038 0.021259 0.019851" rpy="0.604465 0 0"/>
      <geometry>
        <box size="0.020377 0.026415 0.03434"/>
      </geometry>
    </visual>
    <collision>
      <origin xyz="0.001038 0.021259 0.019851" rpy="0.604465 0 0"/>
      <geometry>
        <box size="0.020377 0.026415 0.03434"/>
      </geometry>
    </collision>
    <visual>
      <origin xyz="0.001038 0.019179 -0.009531" rpy="0.494895 0 0"/>
      <geometry>
        <box size="0.010189 0.05283 0.00717"/>
      </geometry>
    </visual>
    <collision>
      <origin xyz="0.001038 0.019179 -0.009531" rpy="0.494895 0 0"/>
      <geometry>
        <box size="0.010189 0.05283 0.00717"/>
      </geometry>
    </collision>
    <visual>
      <origin xyz="0.001038 0.037459 0.024742" rpy="-1.5708 0 1.5708"/>
      <geometry>
        <cylinder radius="0.021887" length="0.019736"/>
      </geometry>
    </visual>
    <collision>
      <origin xyz="0.001038 0.037459 0.024742" rpy="-1.5708 0 1.5708"/>
      <geometry>
        <cylinder radius="0.021887" length="0.019736"/>
      </geometry>
    </collision>
  </link>
  <link name="front right touch sensor">
  </link>
  <joint name="front right forearm_front right touch sensor_joint" type="fixed">
    <parent link="front right forearm"/>
    <child link="front right touch sensor"/>
    <origin xyz="0.001038 -0.271321 -0.225038" rpy="-1.5708 0 1.570801"/>
  </joint>
  <joint name="front right piston motor" type="continuous">
    <parent link="front right upperarm"/>
    <child link="solid_2"/>
    <axis xyz="1 0 0"/>
    <limit effort="10" velocity="10"/>
    <origin xyz="0.1172 -0.29077 0.2083" rpy="-0.5236 0 0"/>
  </joint>
  <link name="solid_2">
  </link>
  <joint name="front left shoulder abduction motor" type="revolute">
    <parent link="base_link"/>
    <child link="front left shoulder"/>
    <axis xyz="0 0 1"/>
    <limit effort="50" lower="-0.6" upper="0.5" velocity="10"/>
    <origin xyz="0.3635 0.0528 0.012399" rpy="1.5708 -0.00001 -1.570793"/>
  </joint>
  <link name="front left shoulder">
    <visual>
      <origin xyz="0.004874 0.000873 -0.000643" rpy="0 0 0"/>
      <geometry>
        <box size="0.086792 0.124528 0.120755"/>
      </geometry>
    </visual>
    <collision>
      <origin xyz="0.004874 0.000873 -0.000643" rpy="0 0 0"/>
      <geometry>
        <box size="0.086792 0.124528 0.120755"/>
      </geometry>
    </collision>
    <visual>
      <origin xyz="-0.006447 0.000873 -0.000643" rpy="0 0 0"/>
      <geometry>
        <box size="0.098113 0.098113 0.098113"/>
      </geometry>
    </visual>
    <collision>
      <origin xyz="-0.006447 0.000873 -0.000643" rpy="0 0 0"/>
      <geometry>
        <box size="0.098113 0.098113 0.098113"/>
      </geometry>
    </collision>
    <visual>
      <origin xyz="-0.058145 0.000873 -0.000643" rpy="-1.5708 0 1.5708"/>
      <geometry>
        <cylinder radius="0.047925" length="0.006038"/>
      </geometry>
    </visual>
    <collision>
      <origin xyz="-0.058145 0.000873 -0.000643" rpy="-1.5708 0 1.5708"/>
      <geometry>
        <cylinder radius="0.047925" length="0.006038"/>
      </geometry>
    </collision>
  </link>
  <joint name="front left shoulder rotation motor" type="revolute">
    <parent link="front left shoulder"/>
    <child link="front left upperarm"/>
    <axis xyz="1 0 0"/>
    <limit effort="50" lower="-1.7" upper="1.7" velocity="10"/>
    <origin xyz="0 -0.00053 0" rpy="0 0 0"/>
  </joint>
  <link name="front left upperarm">
    <visual>
      <origin xyz="-0.117011 -0.32073 0.1829" rpy="-1.5708 0 1.5708"/>
      <geometry>
        <cylinder radius="0.02717" length="0.060377"/>
      </geometry>
    </visual>
    <collision>
      <origin xyz="-0.117011 -0.32073 0.1829" rpy="-1.5708 0 1.5708"/>
      <geometry>
        <cylinder radius="0.02717" length="0.060377"/>
      </geometry>
    </collision>
    <visual>
      <origin xyz="-0.117011 -0.25867 0.180358" rpy="0 0.05 1.570795"/>
      <geometry>
        <box size="0.09434 0.060377 0.053208"/>
      </geometry>
    </visual>
    <collision>
      <origin xyz="-0.117011 -0.25867 0.180358" rpy="0 0.05 1.570795"/>
      <geometry>
        <box size="0.09434 0.060377 0.053208"/>
      </geometry>
    </collision>
    <visual>
      <origin xyz="-0.149087 -0.023654 0.007772" rpy="-0.656375 0 0"/>
      <geometry>
        <box size="0.016226 0.177358 0.071698"/>
      </geometry>
    </visual>
    <collision>
      <origin xyz="-0.149087 -0.023654 0.007772" rpy="-0.656375 0 0"/>
      <geometry>
        <box size="0.016226 0.177358 0.071698"/>
      </geometry>
    </collision>
    <visual>
      <origin xyz="-0.14944 -0.001095 0.048195" rpy="-0.688653 0.282831 -0.225783"/>
      <geometry>
        <box size="0.004528 0.173585 0.015094"/>
      </geometry>
    </visual>
    <collision>
      <origin xyz="-0.14944 -0.001095 0.048195" rpy="-0.688653 0.282831 -0.225783"/>
      <geometry>
        <box size="0.004528 0.173585 0.015094"/>
      </geometry>
    </collision>
    <visual>
      <origin xyz="-0.143963 -0.142325 0.149419" rpy="-0.689784 0.390399 -0.237371"/>
      <geometry>
        <box size="0.004528 0.173585 0.015094"/>
      </geometry>
    </visual>
    <collision>
      <origin xyz="-0.143963 -0.142325 0.149419" rpy="-0.689784 0.390399 -0.237371"/>
      <geometry>
        <box size="0.004528 0.173585 0.015094"/>
      </geometry>
    </collision>
    <visual>
      <origin xyz="-0.143376 -0.16295 0.113632" rpy="-0.64577 0.030504 0.039623"/>
      <geometry>
        <box size="0.016226 0.173585 0.071698"/>
      </geometry>
    </visual>
    <collision>
      <origin xyz="-0.143376 -0.16295 0.113632" rpy="-0.64577 0.030504 0.039623"/>
      <geometry>
        <box size="0.016226 0.173585 0.071698"/>
      </geometry>
    </collision>
    <visual>
      <origin xyz="-0.113992 -0.21476 0.154045" rpy="-0.656375 0 0"/>
      <geometry>
        <box size="0.054717 0.098113 0.064151"/>
      </geometry>
    </visual>
    <collision>
      <origin xyz="-0.113992 -0.21476 0.154045" rpy="-0.656375 0 0"/>
      <geometry>
        <box size="0.054717 0.098113 0.064151"/>
      </geometry>
    </collision>
    <visual>
      <origin xyz="-0.113238 -0.119427 0.086296" rpy="-2.227175 0 0"/>
      <geometry>
        <cylinder radius="0.028679" length="0.150943"/>
      </geometry>
    </visual>
    <collision>
      <origin xyz="-0.113238 -0.119427 0.086296" rpy="-2.227175 0 0"/>
      <geometry>
        <cylinder radius="0.028679" length="0.150943"/>
      </geometry>
    </collision>
    <visual>
      <origin xyz="-0.113238 -0.04459 0.028636" rpy="-2.227175 0 0"/>
      <geometry>
        <cylinder radius="0.037736" length="0.041509"/>
      </geometry>
    </visual>
    <collision>
      <origin xyz="-0.113238 -0.04459 0.028636" rpy="-2.227175 0 0"/>
      <geometry>
        <cylinder radius="0.037736" length="0.041509"/>
      </geometry>
    </collision>
    <visual>
      <origin xyz="-0.113738 -0.02284 -0.046726" rpy="-0.656375 0 0"/>
      <geometry>
        <box size="0.061509 0.069811 0.011321"/>
      </geometry>
    </visual>
    <collision>
      <origin xyz="-0.113738 -0.02284 -0.046726" rpy="-0.656375 0 0"/>
      <geometry>
        <box size="0.061509 0.069811 0.011321"/>
      </geometry>
    </collision>
    <visual>
      <origin xyz="-0.073615 -0.00019 -0.000689" rpy="-1.5708 0 1.5708"/>
      <geometry>
        <cylinder radius="0.04" length="0.037736"/>
      </geometry>
    </visual>
    <collision>
      <origin xyz="-0.073615 -0.00019 -0.000689" rpy="-1.5708 0 1.5708"/>
      <geometry>
        <cylinder radius="0.04" length="0.037736"/>
      </geometry>
    </collision>
    <visual>
      <origin xyz="-0.115879 0.008331 -0.011344" rpy="-2.227175 0 0"/>
      <geometry>
        <cylinder radius="0.033962" length="0.086792"/>
      </geometry>
    </visual>
    <collision>
      <origin xyz="-0.115879 0.008331 -0.011344" rpy="-2.227175 0 0"/>
      <geometry>
        <cylinder radius="0.033962" length="0.086792"/>
      </geometry>
    </collision>
    <visual>
      <origin xyz="-0.12154 0.053961 -0.047932" rpy="-0.656375 0 0"/>
      <geometry>
        <box size="0.064151 0.003774 0.071698"/>
      </geometry>
    </visual>
    <collision>
      <origin xyz="-0.12154 0.053961 -0.047932" rpy="-0.656375 0 0"/>
      <geometry>
        <box size="0.064151 0.003774 0.071698"/>
      </geometry>
    </collision>
    <visual>
      <origin xyz="-0.12003 0.073308 -0.006499" rpy="0.013625 0 0"/>
      <geometry>
        <box size="0.060377 0.007547 0.022642"/>
      </geometry>
    </visual>
    <collision>
      <origin xyz="-0.12003 0.073308 -0.006499" rpy="0.013625 0 0"/>
      <geometry>
        <box size="0.060377 0.007547 0.022642"/>
      </geometry>
    </collision>
    <visual>
      <origin xyz="-0.117011 -0.13635 0.154336" rpy="0.99 0 0"/>
      <geometry>
        <box size="0.049057 0.005283 0.169811"/>
      </geometry>
    </visual>
    <collision>
      <origin xyz="-0.117011 -0.13635 0.154336" rpy="0.99 0 0"/>
      <geometry>
        <box size="0.049057 0.005283 0.169811"/>
      </geometry>
    </collision>
    <visual>
      <origin xyz="-0.083111 -0.31378 0.182934" rpy="0 -0.076371 1.570798"/>
      <geometry>
        <box size="0.044 0.008 0.0387"/>
      </geometry>
    </visual>
    <collision>
      <origin xyz="-0.083111 -0.31378 0.182934" rpy="0 -0.076371 1.570798"/>
      <geometry>
        <box size="0.044 0.008 0.0387"/>
      </geometry>
    </collision>
  </link>
  <joint name="front left elbow motor" type="revolute">
    <parent link="front left upperarm"/>
    <child link="front left forearm"/>
    <axis xyz="1 0 0"/>
    <limit effort="50" lower="-0.45" upper="1.6" velocity="10"/>
    <origin xyz="-0.1122 -0.319729 0.182338" rpy="0 0 0"/>
  </joint>
  <link name="front left forearm">
    <visual>
      <origin xyz="-0.001038 -0.271321 -0.225038" rpy="-1.5708 0 1.570801"/>
      <geometry>
        <cylinder radius="0.035094" length="0.039623"/>
      </geometry>
    </visual>
    <collision>
      <origin xyz="-0.001038 -0.271321 -0.225038" rpy="-1.5708 0 1.570801"/>
      <geometry>
        <cylinder radius="0.035094" length="0.039623"/>
      </geometry>
    </collision>
    <visual>
      <origin xyz="-0.001038 -0.227421 -0.230239" rpy="-0.947675 0 0"/>
      <geometry>
        <box size="0.037736 0.006038 0.041509"/>
      </geometry>
    </visual>
    <collision>
      <origin xyz="-0.001038 -0.227421 -0.230239" rpy="-0.947675 0 0"/>
      <geometry>
        <box size="0.037736 0.006038 0.041509"/>
      </geometry>
    </collision>
    <visual>
      <origin xyz="-0.001038 -0.232272 -0.198255" rpy="-0.093185 0 0"/>
      <geometry>
        <box size="0.037736 0.045283 0.006792"/>
      </geometry>
    </visual>
    <collision>
      <origin xyz="-0.001038 -0.232272 -0.198255" rpy="-0.093185 0 0"/>
      <geometry>
        <box size="0.037736 0.045283 0.006792"/>
      </geometry>
    </collision>
    <visual>
      <origin xyz="-0.001038 -0.205751 -0.206348" rpy="0.616815 0 0"/>
      <geometry>
        <box size="0.025283 0.022642 0.020755"/>
      </geometry>
    </visual>
    <collision>
      <origin xyz="-0.001038 -0.205751 -0.206348" rpy="0.616815 0 0"/>
      <geometry>
        <box size="0.025283 0.022642 0.020755"/>
      </geometry>
    </collision>
    <visual>
      <origin xyz="-0.001038 -0.168611 -0.18111" rpy="-2.513185 0 0"/>
      <geometry>
        <box size="0.019245 0.071698 0.017358"/>
      </geometry>
    </visual>
    <collision>
      <origin xyz="-0.001038 -0.168611 -0.18111" rpy="-2.513185 0 0"/>
      <geometry>
        <box size="0.019245 0.071698 0.017358"/>
      </geometry>
    </collision>
    <visual>
      <origin xyz="-0.001038 -0.125111 -0.148236" rpy="0.663625 0 0"/>
      <geometry>
        <box size="0.021887 0.037736 0.018491"/>
      </geometry>
    </visual>
    <collision>
      <origin xyz="-0.001038 -0.125111 -0.148236" rpy="0.663625 0 0"/>
      <geometry>
        <box size="0.021887 0.037736 0.018491"/>
      </geometry>
    </collision>
    <visual>
      <origin xyz="-0.001038 -0.100861 -0.126163" rpy="0.760415 0 0"/>
      <geometry>
        <box size="0.026415 0.030189 0.021132"/>
      </geometry>
    </visual>
    <collision>
      <origin xyz="-0.001038 -0.100861 -0.126163" rpy="0.760415 0 0"/>
      <geometry>
        <box size="0.026415 0.030189 0.021132"/>
      </geometry>
    </collision>
    <visual>
      <origin xyz="-0.001038 -0.084241 -0.106843" rpy="0.867225 0 0"/>
      <geometry>
        <box size="0.032453 0.022642 0.024528"/>
      </geometry>
    </visual>
    <collision>
      <origin xyz="-0.001038 -0.084241 -0.106843" rpy="0.867225 0 0"/>
      <geometry>
        <box size="0.032453 0.022642 0.024528"/>
      </geometry>
    </collision>
    <visual>
      <origin xyz="-0.001038 -0.068551 -0.08661" rpy="0.907225 0 0"/>
      <geometry>
        <box size="0.037736 0.033962 0.026415"/>
      </geometry>
    </visual>
    <collision>
      <origin xyz="-0.001038 -0.068551 -0.08661" rpy="0.907225 0 0"/>
      <geometry>
        <box size="0.037736 0.033962 0.026415"/>
      </geometry>
    </collision>
    <visual>
      <origin xyz="-0.001038 -0.049721 -0.059227" rpy="0.933245 0 0"/>
      <geometry>
        <cylinder radius="0.024528" length="0.030566"/>
      </geometry>
    </visual>
    <collision>
      <origin xyz="-0.001038 -0.049721 -0.059227" rpy="0.933245 0 0"/>
      <geometry>
        <cylinder radius="0.024528" length="0.030566"/>
      </geometry>
    </collision>
    <visual>
      <origin xyz="-0.001038 -0.034991 -0.038166" rpy="0.937225 0 0"/>
      <geometry>
        <box size="0.038113 0.022642 0.032075"/>
      </geometry>
    </visual>
    <collision>
      <origin xyz="-0.001038 -0.034991 -0.038166" rpy="0.937225 0 0"/>
      <geometry>
        <box size="0.038113 0.022642 0.032075"/>
      </geometry>
    </collision>
    <visual>
      <origin xyz="-0.001038 -0.022931 -0.021744" rpy="0.937225 0 0"/>
      <geometry>
        <box size="0.031321 0.018868 0.03283"/>
      </geometry>
    </visual>
    <collision>
      <origin xyz="-0.001038 -0.022931 -0.021744" rpy="0.937225 0 0"/>
      <geometry>
        <box size="0.031321 0.018868 0.03283"/>
      </geometry>
    </collision>
    <visual>
      <origin xyz="-0.001038 -0.010711 -0.006332" rpy="0.834035 0 0"/>
      <geometry>
        <box size="0.027925 0.018868 0.03283"/>
      </geometry>
    </visual>
    <collision>
      <origin xyz="-0.001038 -0.010711 -0.006332" rpy="0.834035 0 0"/>
      <geometry>
        <box size="0.027925 0.018868 0.03283"/>
      </geometry>
    </collision>
    <visual>
      <origin xyz="-0.001038 0.004299 0.006862" rpy="0.680845 0 0"/>
      <geometry>
        <box size="0.027547 0.018868 0.034717"/>
      </geometry>
    </visual>
    <collision>
      <origin xyz="-0.001038 0.004299 0.006862" rpy="0.680845 0 0"/>
      <geometry>
        <box size="0.027547 0.018868 0.034717"/>
      </geometry>
    </collision>
    <visual>
      <origin xyz="-0.001038 0.021259 0.019851" rpy="0.604465 0 0"/>
      <geometry>
        <box size="0.020377 0.026415 0.03434"/>
      </geometry>
    </visual>
    <collision>
      <origin xyz="-0.001038 0.021259 0.019851" rpy="0.604465 0 0"/>
      <geometry>
        <box size="0.020377 0.026415 0.03434"/>
      </geometry>
    </collision>
    <visual>
      <origin xyz="-0.001038 0.019179 -0.009531" rpy="0.494895 0 0"/>
      <geometry>
        <box size="0.010189 0.05283 0.00717"/>
      </geometry>
    </visual>
    <collision>
      <origin xyz="-0.001038 0.019179 -0.009531" rpy="0.494895 0 0"/>
      <geometry>
        <box size="0.010189 0.05283 0.00717"/>
      </geometry>
    </collision>
    <visual>
      <origin xyz="-0.001038 0.037459 0.024742" rpy="-1.5708 0 1.5708"/>
      <geometry>
        <cylinder radius="0.021887" length="0.019736"/>
      </geometry>
    </visual>
    <collision>
      <origin xyz="-0.001038 0.037459 0.024742" rpy="-1.5708 0 1.5708"/>
      <geometry>
        <cylinder radius="0.021887" length="0.019736"/>
      </geometry>
    </collision>
  </link>
  <link name="front left touch sensor">
  </link>
  <joint name="front left forearm_front left touch sensor_joint" type="fixed">
    <parent link="front left forearm"/>
    <child link="front left touch sensor"/>
    <origin xyz="0.001038 -0.271321 -0.225038" rpy="-1.5708 0 1.570801"/>
  </joint>
  <joint name="front left piston motor" type="continuous">
    <parent link="front left upperarm"/>
    <child link="solid_3"/>
    <axis xyz="1 0 0"/>
    <limit effort="10" velocity="10"/>
    <origin xyz="-0.1172 -0.29077 0.2083" rpy="-0.5236 0 0"/>
  </joint>
  <link name="solid_3">
  </link>
  <link name="rear depth">
  </link>
  <joint name="base_link_rear depth_joint" type="fixed">
    <parent link="base_link"/>
    <child link="rear depth"/>
    <origin xyz="-0.448136 -0.018115 0.012558" rpy="0.000015 0.474984 -3.141579"/>
  </joint>
  <link name="rear camera">
  </link>
  <joint name="base_link_rear camera_joint" type="fixed">
    <parent link="base_link"/>
    <child link="rear camera"/>
    <origin xyz="-0.448136 -0.018115 0.012558" rpy="-1.570781 0.474984 -4.712375"/>
  </joint>
  <link name="left flank depth">
  </link>
  <joint name="base_link_left flank depth_joint" type="fixed">
    <parent link="base_link"/>
    <child link="left flank depth"/>
    <origin xyz="-0.13568 0.110127 0.065528" rpy="-0.000003 0.403191 1.570802"/>
  </joint>
  <link name="left flank camera">
  </link>
  <joint name="base_link_left flank camera_joint" type="fixed">
    <parent link="base_link"/>
    <child link="left flank camera"/>
    <origin xyz="-0.13568 0.110127 0.065528" rpy="-1.570799 0.403191 0.000005"/>
  </joint>
  <link name="right flank depth">
  </link>
  <joint name="base_link_right flank depth_joint" type="fixed">
    <parent link="base_link"/>
    <child link="right flank depth"/>
    <origin xyz="-0.135678 -0.110163 0.06561" rpy="0.000005 0.413171 -1.570794"/>
  </joint>
  <link name="right flank camera">
  </link>
  <joint name="base_link_right flank camera_joint" type="fixed">
    <parent link="base_link"/>
    <child link="right flank camera"/>
    <origin xyz="-0.135678 -0.110163 0.06561" rpy="-1.570791 0.413171 -3.141591"/>
  </joint>
  <link name="left head depth">
  </link>
  <joint name="base_link_left head depth_joint" type="fixed">
    <parent link="base_link"/>
    <child link="left head depth"/>
    <origin xyz="0.46325 0.045111 0.029551" rpy="-0.158862 0.433786 -0.408004"/>
  </joint>
  <link name="left head camera">
  </link>
  <joint name="base_link_left head camera_joint" type="fixed">
    <parent link="base_link"/>
    <child link="left head camera"/>
    <origin xyz="0.46325 0.045111 0.029551" rpy="-1.729658 0.433786 -1.9788"/>
  </joint>
  <link name="right head depth">
  </link>
  <joint name="base_link_right head depth_joint" type="fixed">
    <parent link="base_link"/>
    <child link="right head depth"/>
    <origin xyz="0.462603 -0.044896 0.027972" rpy="0.193959 0.3931 0.409605"/>
  </joint>
  <link name="right head camera">
  </link>
  <joint name="base_link_right head camera_joint" type="fixed">
    <parent link="base_link"/>
    <child link="right head camera"/>
    <origin xyz="0.462603 -0.044896 0.027972" rpy="-1.376837 0.3931 -1.161192"/>
  </joint>
  <link name="left bottom led">
  </link>
  <joint name="base_link_left bottom led_joint" type="fixed">
    <parent link="base_link"/>
    <child link="left bottom led"/>
    <origin xyz="0.481728 0.081967 0.001191" rpy="1.873112 0.329178 0.767486"/>
  </joint>
  <link name="right bottom led">
  </link>
  <joint name="base_link_right bottom led_joint" type="fixed">
    <parent link="base_link"/>
    <child link="right bottom led"/>
    <origin xyz="0.481728 -0.081963 0.001193" rpy="1.279539 0.338923 -0.733718"/>
  </joint>
  <link name="right middle down led">
  </link>
  <joint name="base_link_right middle down led_joint" type="fixed">
    <parent link="base_link"/>
    <child link="right middle down led"/>
    <origin xyz="0.489879 -0.081963 0.018293" rpy="1.279539 0.338923 -0.733718"/>
  </joint>
  <link name="right middle up led">
  </link>
  <joint name="base_link_right middle up led_joint" type="fixed">
    <parent link="base_link"/>
    <child link="right middle up led"/>
    <origin xyz="0.497601 -0.081963 0.034493" rpy="1.279539 0.338923 -0.733718"/>
  </joint>
  <link name="right top led">
  </link>
  <joint name="base_link_right top led_joint" type="fixed">
    <parent link="base_link"/>
    <child link="right top led"/>
    <origin xyz="0.505323 -0.081963 0.050723" rpy="1.279539 0.338923 -0.733718"/>
  </joint>
  <link name="left middle down led">
  </link>
  <joint name="base_link_left middle down led_joint" type="fixed">
    <parent link="base_link"/>
    <child link="left middle down led"/>
    <origin xyz="0.489879 0.081966 0.018291" rpy="1.873112 0.329178 0.767486"/>
  </joint>
  <link name="left middle up led">
  </link>
  <joint name="base_link_left middle up led_joint" type="fixed">
    <parent link="base_link"/>
    <child link="left middle up led"/>
    <origin xyz="0.497601 0.081967 0.034491" rpy="1.873112 0.329178 0.767486"/>
  </joint>
  <link name="left top led">
  </link>
  <joint name="base_link_left top led_joint" type="fixed">
    <parent link="base_link"/>
    <child link="left top led"/>
    <origin xyz="0.505323 0.081967 0.050721" rpy="1.873112 0.329178 0.767486"/>
  </joint>
  <link name="inertial unit">
  </link>
  <joint name="base_link_inertial unit_joint" type="fixed">
    <parent link="base_link"/>
    <child link="inertial unit"/>
    <origin xyz="0 0 0" rpy="0 0 0"/>
  </joint>
  <link name="gyro">
  </link>
  <joint name="base_link_gyro_joint" type="fixed">
    <parent link="base_link"/>
    <child link="gyro"/>
    <origin xyz="0 0 0" rpy="0 0 0"/>
  </joint>
  <link name="gps">
  </link>
  <joint name="base_link_gps_joint" type="fixed">
    <parent link="base_link"/>
    <child link="gps"/>
    <origin xyz="0 0 0" rpy="0 0 0"/>
  </joint>
  <link name="accelerometer">
  </link>
  <joint name="base_link_accelerometer_joint" type="fixed">
    <parent link="base_link"/>
    <child link="accelerometer"/>
    <origin xyz="0 0 0" rpy="0 0 0"/>
  </joint>
  <!-- Add a fixed joint to connect 'gen3_base_link' to 'base_link' -->
  <joint name="base_link_to_gen3_base_link" type="fixed">
    <parent link="base_link"/>
    <child link="gen3_base_link"/>
    <origin xyz="0.256 0 0.1118" rpy="0.0 0.0 0.0"/>
  </joint>
</robot>
